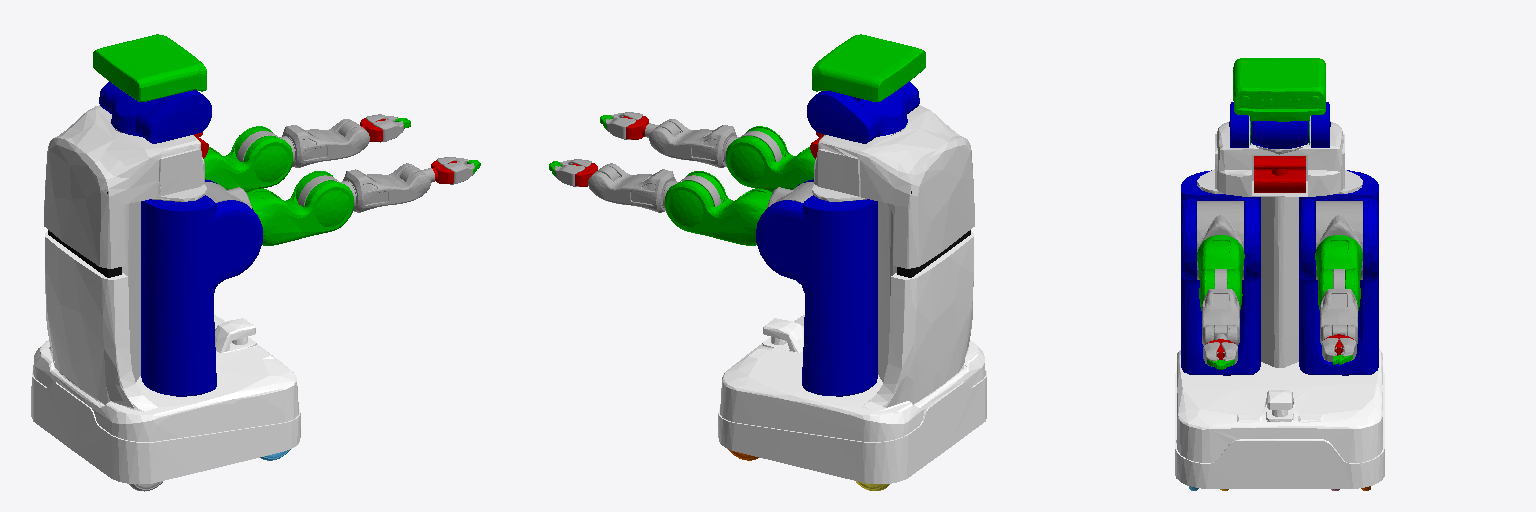
--- Render facts (derived) ---
The picture shows the robot from 3 angles, left to right: view 1: azimuth 30°, elevation 25°; view 2: azimuth 150°, elevation 25°; view 3: azimuth 270°, elevation 25°; orthographic projection.
Robot: pr2 — 97 links, 96 joints (21 revolute, 19 continuous, 5 prismatic, 51 fixed); root link base_footprint; default pose: all joints at 0.
Links seen in each view (by area): view 1: base_link, torso_lift_link, r_shoulder_pan_link, head_tilt_link, r_upper_arm_link, head_pan_link, l_upper_arm_link, l_forearm_link, r_forearm_link, r_shoulder_lift_link; view 2: base_link, torso_lift_link, l_shoulder_pan_link, head_tilt_link, l_upper_arm_link, head_pan_link, r_upper_arm_link, r_forearm_link, l_forearm_link, l_shoulder_lift_link; view 3: base_link, torso_lift_link, l_shoulder_pan_link, r_shoulder_pan_link, head_tilt_link, head_pan_link, r_upper_arm_link, l_upper_arm_link, laser_tilt_mount_link, r_shoulder_lift_link, l_shoulder_lift_link, r_forearm_link (+1 smaller).
Boxes of the visible links, x1,y1,x2,y2 form: base_link: (31,231,300,484); torso_lift_link: (44,105,206,381); r_shoulder_pan_link: (141,179,262,396); head_tilt_link: (93,34,206,101); r_upper_arm_link: (246,171,353,245); head_pan_link: (99,81,211,143); l_upper_arm_link: (204,126,292,191); l_forearm_link: (282,119,369,167); r_forearm_link: (343,163,430,212); r_shoulder_lift_link: (205,182,251,208); base_link: (718,231,986,483); torso_lift_link: (812,105,974,381); l_shoulder_pan_link: (756,179,877,396); head_tilt_link: (812,34,925,101); l_upper_arm_link: (665,171,771,245); head_pan_link: (807,81,919,143); r_upper_arm_link: (726,126,814,192); r_forearm_link: (649,119,736,167); l_forearm_link: (588,163,675,212); l_shoulder_lift_link: (767,182,813,207); base_link: (1175,349,1384,488); torso_lift_link: (1197,116,1362,367); l_shoulder_pan_link: (1299,170,1378,375); r_shoulder_pan_link: (1181,170,1260,375); head_tilt_link: (1233,58,1325,144); head_pan_link: (1229,102,1330,148); r_upper_arm_link: (1197,235,1244,310); l_upper_arm_link: (1315,235,1362,310); laser_tilt_mount_link: (1254,156,1305,192); r_shoulder_lift_link: (1197,201,1243,279); l_shoulder_lift_link: (1316,201,1362,279); r_forearm_link: (1202,289,1239,345).
Bounding box of the posed robot: 1.35 × 0.6668 × 1.47 m (x, y, z).
Meshes: 20 distinct files referenced, 35 mesh visuals loaded (15 Collada DAE); not drawn: 11 (reference not matched to a file when rendering).

robot.urdf — pr2:
<?xml version="1.0" ?>
<robot name="pr2" xmlns:body="http://playerstage.sourceforge.net/gazebo/xmlschema/#body" xmlns:controller="http://playerstage.sourceforge.net/gazebo/xmlschema/#controller" xmlns:geom="http://playerstage.sourceforge.net/gazebo/xmlschema/#geom" xmlns:interface="http://playerstage.sourceforge.net/gazebo/xmlschema/#interface" xmlns:joint="http://playerstage.sourceforge.net/gazebo/xmlschema/#joint" xmlns:sensor="http://playerstage.sourceforge.net/gazebo/xmlschema/#sensor" xmlns:xacro="http://ros.org/wiki/xacro">
  <gazebo>
    <controller:gazebo_ros_controller_manager name="gazebo_ros_controller_manager" plugin="libgazebo_ros_controller_manager.so">
      <alwaysOn>true</alwaysOn>
      <updateRate>1000.0</updateRate>
      <interface:audio name="gazebo_ros_controller_manager_dummy_iface"/>
    </controller:gazebo_ros_controller_manager>
    <controller:gazebo_ros_power_monitor name="gazebo_ros_power_monitor_controller" plugin="libgazebo_ros_power_monitor.so">
      <alwaysOn>true</alwaysOn>
      <updateRate>1.0</updateRate>
      <timeout>5</timeout>
      <interface:audio name="power_monitor_dummy_interface"/>
      <powerStateTopic>power_state</powerStateTopic>
      <powerStateRate>10.0</powerStateRate>
      <fullChargeCapacity>87.78</fullChargeCapacity>
      <dischargeRate>-474</dischargeRate>
      <chargeRate>525</chargeRate>
      <dischargeVoltage>15.52</dischargeVoltage>
      <chargeVoltage>16.41</chargeVoltage>
    </controller:gazebo_ros_power_monitor>
  </gazebo>
  <material name="Blue">
    <color rgba="0 0 0.8 1"/>
  </material>
  <material name="Green">
    <color rgba="0 0.8 0 1"/>
  </material>
  <material name="Grey">
    <color rgba="0.7 0.7 0.7 1"/>
  </material>
  <material name="Grey2">
    <color rgba="0.9 0.9 0.9 1"/>
  </material>
  <material name="Red">
    <color rgba="0.8 0 0 1"/>
  </material>
  <material name="White">
    <color rgba="1 1 1 1"/>
  </material>
  <material name="Black">
    <color rgba="0.1 0.1 0.1 1"/>
  </material>
  <material name="LightGrey">
    <color rgba="0.6 0.6 0.6 1"/>
  </material>
  <material name="Caster">
    <texture filename="package://pr2_description/materials/textures/pr2_caster_texture.png"/>
  </material>
  <material name="Wheel_l">
    <texture filename="package://pr2_description/materials/textures/pr2_wheel_left.png"/>
  </material>
  <material name="Wheel_r">
    <texture filename="package://pr2_description/materials/textures/pr2_wheel_right.png"/>
  </material>
  <material name="RollLinks">
    <texture filename="package://pr2_description/materials/textures/pr2_wheel_left.png"/>
  </material>
  <link name="base_link">
    <inertial>
      <mass value="116"/>
      <origin xyz="-0.061 0 0.1465"/>
      <inertia ixx="5.652232699207" ixy="-0.009719934438" ixz="1.293988226423" iyy="5.669473158652" iyz="-0.007379583694" izz="3.683196351726"/>
    </inertial>
    <visual>
      <origin rpy="0 0 0" xyz="0 0 0"/>
      <geometry>
        <mesh filename="package://pr2_description/meshes/base_v0/base.dae"/>
      </geometry>
      <material name="White"/>
    </visual>
    <collision>
      <origin rpy="0 0 0" xyz="0 0 0"/>
      <geometry>
        <mesh filename="package://pr2_description/meshes/base_v0/base_L.stl"/>
      </geometry>
    </collision>
  </link>
  <link name="base_footprint">
    <inertial>
      <mass value="1"/>
      <origin xyz="0 0 0"/>
      <inertia ixx="0.01" ixy="0" ixz="0" iyy="0.01" iyz="0" izz="0.01"/>
    </inertial>
    <visual>
      <origin rpy="0 0 0" xyz="0 0 0"/>
      <geometry>
        <box size="0.01 0.01 0.01"/>
      </geometry>
      <material name="White"/>
    </visual>
    <collision>
      <origin rpy="0 0 0" xyz="0 0 0.071"/>
      <geometry>
        <box size="0.001 0.001 0.001"/>
      </geometry>
    </collision>
  </link>
  <joint name="base_footprint_joint" type="fixed">
    <parent link="base_footprint"/>
    <child link="base_link"/>
    <origin rpy="0 0 0" xyz="0 0 0.051"/>
  </joint>
  <link name="base_bellow_link">
    <inertial>
      <mass value="1"/>
      <origin xyz="0 0 0"/>
      <inertia ixx="0.01" ixy="0" ixz="0" iyy="0.01" iyz="0" izz="0.01"/>
    </inertial>
    <visual>
      <origin rpy="0 0 0" xyz="0 0 0"/>
      <geometry>
        <box size="0.05 0.37 0.3"/>
      </geometry>
      <material name="Black"/>
    </visual>
    <collision>
      <origin rpy="0 0 0" xyz="0 0 0"/>
      <geometry>
        <box size="0.05 0.37 0.3"/>
      </geometry>
    </collision>
  </link>
  <joint name="base_bellow_joint" type="fixed">
    <parent link="base_link"/>
    <child link="base_bellow_link"/>
    <origin rpy="0 0 0" xyz="-0.29 0 0.8"/>
  </joint>
  <joint name="base_laser_joint" type="fixed">
    <parent link="base_link"/>
    <child link="base_laser_link"/>
    <origin rpy="0 0 0" xyz="0.275 0 0.252"/>
    <axis xyz="0 1 0"/>
  </joint>
  <link name="base_laser_link" type="laser">
    <inertial>
      <mass value="0.001"/>
      <origin rpy="0 0 0" xyz="0 0 0"/>
      <inertia ixx="0.0001" ixy="0" ixz="0" iyy="0.000001" iyz="0" izz="0.0001"/>
    </inertial>
  </link>
  <gazebo reference="base_laser_link">
    <sensor:ray name="base_laser">
      <rayCount>640</rayCount>
      <rangeCount>640</rangeCount>
      <laserCount>1</laserCount>
      <origin>0.0 0.0 0.0</origin>
      <displayRays>false</displayRays>
      <minAngle>-129.998394137</minAngle>
      <maxAngle>129.998394137</maxAngle>
      <minRange>0.08</minRange>
      <maxRange>10.0</maxRange>
      <resRange>0.01</resRange>
      <updateRate>20</updateRate>
      <controller:gazebo_ros_laser name="gazebo_ros_base_laser_controller" plugin="libgazebo_ros_laser.so">
        <gaussianNoise>0.005</gaussianNoise>
        <alwaysOn>true</alwaysOn>
        <updateRate>20</updateRate>
        <topicName>base_scan</topicName>
        <frameName>base_laser_link</frameName>
        <interface:laser name="gazebo_ros_base_laser_iface"/>
      </controller:gazebo_ros_laser>
    </sensor:ray>
  </gazebo>
  <joint name="fl_caster_rotation_joint" type="continuous">
    <parent link="base_link"/>
    <child link="fl_caster_rotation_link"/>
    <origin rpy="0 0 0" xyz="0.2246 0.2246 0.0282"/>
    <axis xyz="0 0 1"/>
    <limit effort="100" velocity="100"/>
    <dynamics damping="0.0" friction="0.0"/>
    <safety_controller k_velocity="10"/>
    <calibration rising="-0.785398163397"/>
  </joint>
  <link name="fl_caster_rotation_link">
    <inertial>
      <mass value="3.473082"/>
      <origin xyz="0 0 0.07"/>
      <inertia ixx="0.012411765597" ixy="-0.000711733678" ixz="0.00050272983" iyy="0.015218160428" iyz="-0.000004273467" izz="0.011763977943"/>
    </inertial>
    <visual>
      <origin rpy="0 0 0" xyz="0 0 0"/>
      <geometry>
        <mesh filename="package://pr2_description/meshes/base_v0/caster.stl"/>
      </geometry>
      <material name="Caster"/>
    </visual>
    <collision>
      <origin rpy="0 0 0" xyz="0 0 0"/>
      <geometry>
        <mesh filename="package://pr2_description/meshes/base_v0/caster_L.stl"/>
      </geometry>
    </collision>
  </link>
  <transmission name="fl_caster_rotation_trans" type="pr2_mechanism_model/SimpleTransmission">
    <actuator name="fl_caster_rotation_motor"/>
    <joint name="fl_caster_rotation_joint"/>
    <mechanicalReduction>-79.2380952381</mechanicalReduction>
  </transmission>
  <joint name="fl_caster_l_wheel_joint" type="continuous">
    <parent link="fl_caster_rotation_link"/>
    <child link="fl_caster_l_wheel_link"/>
    <origin rpy="0 0 0" xyz="0 0.049 0"/>
    <axis xyz="0 1 0"/>
    <limit effort="100" velocity="100"/>
    <dynamics damping="0.0" friction="0.0"/>
    <safety_controller k_velocity="10"/>
  </joint>
  <link name="fl_caster_l_wheel_link">
    <inertial>
      <mass value="0.44036"/>
      <origin xyz="0 0 0"/>
      <inertia ixx="0.012411765597" ixy="-0.000711733678" ixz="0.00050272983" iyy="0.015218160428" iyz="-0.000004273467" izz="0.011763977943"/>
    </inertial>
    <visual>
      <origin rpy="0 0 0" xyz="0 0 0"/>
      <geometry>
        <mesh filename="package://pr2_description/meshes/base_v0/wheel.dae"/>
      </geometry>
      <material name="Wheel_l"/>
    </visual>
    <collision>
      <origin rpy="1.57079632679 0 0" xyz="0 0 0"/>
      <geometry>
        <cylinder length="0.034" radius="0.074792"/>
      </geometry>
    </collision>
  </link>
  <gazebo reference="fl_caster_l_wheel_link">
    <mu1 value="100.0"/>
    <mu2 value="100.0"/>
    <kp value="1000000.0"/>
    <kd value="1.0"/>
  </gazebo>
  <transmission name="fl_caster_l_wheel_trans" type="pr2_mechanism_model/SimpleTransmission">
    <actuator name="fl_caster_l_wheel_motor"/>
    <joint name="fl_caster_l_wheel_joint"/>
    <mechanicalReduction>79.2380952381</mechanicalReduction>
  </transmission>
  <joint name="fl_caster_r_wheel_joint" type="continuous">
    <parent link="fl_caster_rotation_link"/>
    <child link="fl_caster_r_wheel_link"/>
    <origin rpy="0 0 0" xyz="0 -0.049 0"/>
    <axis xyz="0 1 0"/>
    <limit effort="100" velocity="100"/>
    <dynamics damping="0.0" friction="0.0"/>
    <safety_controller k_velocity="10"/>
  </joint>
  <link name="fl_caster_r_wheel_link">
    <inertial>
      <mass value="0.44036"/>
      <origin xyz="0 0 0"/>
      <inertia ixx="0.012411765597" ixy="-0.000711733678" ixz="0.00050272983" iyy="0.015218160428" iyz="-0.000004273467" izz="0.011763977943"/>
    </inertial>
    <visual>
      <origin rpy="0 0 0" xyz="0 0 0"/>
      <geometry>
        <mesh filename="package://pr2_description/meshes/base_v0/wheel.dae"/>
      </geometry>
      <material name="Wheel_r"/>
    </visual>
    <collision>
      <origin rpy="1.57079632679 0 0" xyz="0 0 0"/>
      <geometry>
        <cylinder length="0.034" radius="0.074792"/>
      </geometry>
    </collision>
  </link>
  <gazebo reference="fl_caster_r_wheel_link">
    <mu1 value="100.0"/>
    <mu2 value="100.0"/>
    <kp value="1000000.0"/>
    <kd value="1.0"/>
  </gazebo>
  <transmission name="fl_caster_r_wheel_trans" type="pr2_mechanism_model/SimpleTransmission">
    <actuator name="fl_caster_r_wheel_motor"/>
    <joint name="fl_caster_r_wheel_joint"/>
    <mechanicalReduction>-79.2380952381</mechanicalReduction>
  </transmission>
  <gazebo reference="fl_caster_rotation_link">
    <material value="PR2/caster_texture"/>
  </gazebo>
  <joint name="fr_caster_rotation_joint" type="continuous">
    <parent link="base_link"/>
    <child link="fr_caster_rotation_link"/>
    <origin rpy="0 0 0" xyz="0.2246 -0.2246 0.0282"/>
    <axis xyz="0 0 1"/>
    <limit effort="100" velocity="100"/>
    <dynamics damping="0.0" friction="0.0"/>
    <safety_controller k_velocity="10"/>
    <calibration rising="-0.785398163397"/>
  </joint>
  <link name="fr_caster_rotation_link">
    <inertial>
      <mass value="3.473082"/>
      <origin xyz="0 0 0.07"/>
      <inertia ixx="0.012411765597" ixy="-0.000711733678" ixz="0.00050272983" iyy="0.015218160428" iyz="-0.000004273467" izz="0.011763977943"/>
    </inertial>
    <visual>
      <origin rpy="0 0 0" xyz="0 0 0"/>
      <geometry>
        <mesh filename="package://pr2_description/meshes/base_v0/caster.stl"/>
      </geometry>
      <material name="Caster"/>
    </visual>
    <collision>
      <origin rpy="0 0 0" xyz="0 0 0"/>
      <geometry>
        <mesh filename="package://pr2_description/meshes/base_v0/caster_L.stl"/>
      </geometry>
    </collision>
  </link>
  <transmission name="fr_caster_rotation_trans" type="pr2_mechanism_model/SimpleTransmission">
    <actuator name="fr_caster_rotation_motor"/>
    <joint name="fr_caster_rotation_joint"/>
    <mechanicalReduction>-79.2380952381</mechanicalReduction>
  </transmission>
  <joint name="fr_caster_l_wheel_joint" type="continuous">
    <parent link="fr_caster_rotation_link"/>
    <child link="fr_caster_l_wheel_link"/>
    <origin rpy="0 0 0" xyz="0 0.049 0"/>
    <axis xyz="0 1 0"/>
    <limit effort="100" velocity="100"/>
    <dynamics damping="0.0" friction="0.0"/>
    <safety_controller k_velocity="10"/>
  </joint>
  <link name="fr_caster_l_wheel_link">
    <inertial>
      <mass value="0.44036"/>
      <origin xyz="0 0 0"/>
      <inertia ixx="0.012411765597" ixy="-0.000711733678" ixz="0.00050272983" iyy="0.015218160428" iyz="-0.000004273467" izz="0.011763977943"/>
    </inertial>
    <visual>
      <origin rpy="0 0 0" xyz="0 0 0"/>
      <geometry>
        <mesh filename="package://pr2_description/meshes/base_v0/wheel.dae"/>
      </geometry>
      <material name="Wheel_l"/>
    </visual>
    <collision>
      <origin rpy="1.57079632679 0 0" xyz="0 0 0"/>
      <geometry>
        <cylinder length="0.034" radius="0.074792"/>
      </geometry>
    </collision>
  </link>
  <gazebo reference="fr_caster_l_wheel_link">
    <mu1 value="100.0"/>
    <mu2 value="100.0"/>
    <kp value="1000000.0"/>
    <kd value="1.0"/>
  </gazebo>
  <transmission name="fr_caster_l_wheel_trans" type="pr2_mechanism_model/SimpleTransmission">
    <actuator name="fr_caster_l_wheel_motor"/>
    <joint name="fr_caster_l_wheel_joint"/>
    <mechanicalReduction>79.2380952381</mechanicalReduction>
  </transmission>
  <joint name="fr_caster_r_wheel_joint" type="continuous">
    <parent link="fr_caster_rotation_link"/>
    <child link="fr_caster_r_wheel_link"/>
    <origin rpy="0 0 0" xyz="0 -0.049 0"/>
    <axis xyz="0 1 0"/>
    <limit effort="100" velocity="100"/>
    <dynamics damping="0.0" friction="0.0"/>
    <safety_controller k_velocity="10"/>
  </joint>
  <link name="fr_caster_r_wheel_link">
    <inertial>
      <mass value="0.44036"/>
      <origin xyz="0 0 0"/>
      <inertia ixx="0.012411765597" ixy="-0.000711733678" ixz="0.00050272983" iyy="0.015218160428" iyz="-0.000004273467" izz="0.011763977943"/>
    </inertial>
    <visual>
      <origin rpy="0 0 0" xyz="0 0 0"/>
      <geometry>
        <mesh filename="package://pr2_description/meshes/base_v0/wheel.dae"/>
      </geometry>
      <material name="Wheel_r"/>
    </visual>
    <collision>
      <origin rpy="1.57079632679 0 0" xyz="0 0 0"/>
      <geometry>
        <cylinder length="0.034" radius="0.074792"/>
      </geometry>
    </collision>
  </link>
  <gazebo reference="fr_caster_r_wheel_link">
    <mu1 value="100.0"/>
    <mu2 value="100.0"/>
    <kp value="1000000.0"/>
    <kd value="1.0"/>
  </gazebo>
  <transmission name="fr_caster_r_wheel_trans" type="pr2_mechanism_model/SimpleTransmission">
    <actuator name="fr_caster_r_wheel_motor"/>
    <joint name="fr_caster_r_wheel_joint"/>
    <mechanicalReduction>-79.2380952381</mechanicalReduction>
  </transmission>
  <gazebo reference="fr_caster_rotation_link">
    <material value="PR2/caster_texture"/>
  </gazebo>
  <joint name="bl_caster_rotation_joint" type="continuous">
    <parent link="base_link"/>
    <child link="bl_caster_rotation_link"/>
    <origin rpy="0 0 0" xyz="-0.2246 0.2246 0.0282"/>
    <axis xyz="0 0 1"/>
    <limit effort="100" velocity="100"/>
    <dynamics damping="0.0" friction="0.0"/>
    <safety_controller k_velocity="10"/>
    <calibration rising="2.35619449019"/>
  </joint>
  <link name="bl_caster_rotation_link">
    <inertial>
      <mass value="3.473082"/>
      <origin xyz="0 0 0.07"/>
      <inertia ixx="0.012411765597" ixy="-0.000711733678" ixz="0.00050272983" iyy="0.015218160428" iyz="-0.000004273467" izz="0.011763977943"/>
    </inertial>
    <visual>
      <origin rpy="0 0 0" xyz="0 0 0"/>
      <geometry>
        <mesh filename="package://pr2_description/meshes/base_v0/caster.stl"/>
      </geometry>
      <material name="Caster"/>
    </visual>
    <collision>
      <origin rpy="0 0 0" xyz="0 0 0"/>
      <geometry>
        <mesh filename="package://pr2_description/meshes/base_v0/caster_L.stl"/>
      </geometry>
    </collision>
  </link>
  <transmission name="bl_caster_rotation_trans" type="pr2_mechanism_model/SimpleTransmission">
    <actuator name="bl_caster_rotation_motor"/>
    <joint name="bl_caster_rotation_joint"/>
    <mechanicalReduction>-79.2380952381</mechanicalReduction>
  </transmission>
  <joint name="bl_caster_l_wheel_joint" type="continuous">
    <parent link="bl_caster_rotation_link"/>
    <child link="bl_caster_l_wheel_link"/>
    <origin rpy="0 0 0" xyz="0 0.049 0"/>
    <axis xyz="0 1 0"/>
    <limit effort="100" velocity="100"/>
    <dynamics damping="0.0" friction="0.0"/>
    <safety_controller k_velocity="10"/>
  </joint>
  <link name="bl_caster_l_wheel_link">
    <inertial>
      <mass value="0.44036"/>
      <origin xyz="0 0 0"/>
      <inertia ixx="0.012411765597" ixy="-0.000711733678" ixz="0.00050272983" iyy="0.015218160428" iyz="-0.000004273467" izz="0.011763977943"/>
    </inertial>
    <visual>
      <origin rpy="0 0 0" xyz="0 0 0"/>
      <geometry>
        <mesh filename="package://pr2_description/meshes/base_v0/wheel.dae"/>
      </geometry>
      <material name="Wheel_l"/>
    </visual>
    <collision>
      <origin rpy="1.57079632679 0 0" xyz="0 0 0"/>
      <geometry>
        <cylinder length="0.034" radius="0.074792"/>
      </geometry>
    </collision>
  </link>
  <gazebo reference="bl_caster_l_wheel_link">
    <mu1 value="100.0"/>
    <mu2 value="100.0"/>
    <kp value="1000000.0"/>
    <kd value="1.0"/>
  </gazebo>
  <transmission name="bl_caster_l_wheel_trans" type="pr2_mechanism_model/SimpleTransmission">
    <actuator name="bl_caster_l_wheel_motor"/>
    <joint name="bl_caster_l_wheel_joint"/>
    <mechanicalReduction>79.2380952381</mechanicalReduction>
  </transmission>
  <joint name="bl_caster_r_wheel_joint" type="continuous">
    <parent link="bl_caster_rotation_link"/>
    <child link="bl_caster_r_wheel_link"/>
    <origin rpy="0 0 0" xyz="0 -0.049 0"/>
    <axis xyz="0 1 0"/>
    <limit effort="100" velocity="100"/>
    <dynamics damping="0.0" friction="0.0"/>
    <safety_controller k_velocity="10"/>
  </joint>
  <link name="bl_caster_r_wheel_link">
    <inertial>
      <mass value="0.44036"/>
      <origin xyz="0 0 0"/>
      <inertia ixx="0.012411765597" ixy="-0.000711733678" ixz="0.00050272983" iyy="0.015218160428" iyz="-0.000004273467" izz="0.011763977943"/>
    </inertial>
    <visual>
      <origin rpy="0 0 0" xyz="0 0 0"/>
      <geometry>
        <mesh filename="package://pr2_description/meshes/base_v0/wheel.dae"/>
      </geometry>
      <material name="Wheel_r"/>
    </visual>
    <collision>
      <origin rpy="1.57079632679 0 0" xyz="0 0 0"/>
      <geometry>
        <cylinder length="0.034" radius="0.074792"/>
      </geometry>
    </collision>
  </link>
  <gazebo reference="bl_caster_r_wheel_link">
    <mu1 value="100.0"/>
    <mu2 value="100.0"/>
    <kp value="1000000.0"/>
    <kd value="1.0"/>
  </gazebo>
  <transmission name="bl_caster_r_wheel_trans" type="pr2_mechanism_model/SimpleTransmission">
    <actuator name="bl_caster_r_wheel_motor"/>
    <joint name="bl_caster_r_wheel_joint"/>
    <mechanicalReduction>-79.2380952381</mechanicalReduction>
  </transmission>
  <gazebo reference="bl_caster_rotation_link">
    <material value="PR2/caster_texture"/>
  </gazebo>
  <joint name="br_caster_rotation_joint" type="continuous">
    <parent link="base_link"/>
    <child link="br_caster_rotation_link"/>
    <origin rpy="0 0 0" xyz="-0.2246 -0.2246 0.0282"/>
    <axis xyz="0 0 1"/>
    <limit effort="100" velocity="100"/>
    <dynamics damping="0.0" friction="0.0"/>
    <safety_controller k_velocity="10"/>
    <calibration rising="2.35619449019"/>
  </joint>
  <link name="br_caster_rotation_link">
    <inertial>
      <mass value="3.473082"/>
      <origin xyz="0 0 0.07"/>
      <inertia ixx="0.012411765597" ixy="-0.000711733678" ixz="0.00050272983" iyy="0.015218160428" iyz="-0.000004273467" izz="0.011763977943"/>
    </inertial>
    <visual>
      <origin rpy="0 0 0" xyz="0 0 0"/>
      <geometry>
        <mesh filename="package://pr2_description/meshes/base_v0/caster.stl"/>
      </geometry>
      <material name="Caster"/>
    </visual>
    <collision>
      <origin rpy="0 0 0" xyz="0 0 0"/>
      <geometry>
        <mesh filename="package://pr2_description/meshes/base_v0/caster_L.stl"/>
      </geometry>
    </collision>
  </link>
  <transmission name="br_caster_rotation_trans" type="pr2_mechanism_model/SimpleTransmission">
    <actuator name="br_caster_rotation_motor"/>
    <joint name="br_caster_rotation_joint"/>
    <mechanicalReduction>-79.2380952381</mechanicalReduction>
  </transmission>
  <joint name="br_caster_l_wheel_joint" type="continuous">
    <parent link="br_caster_rotation_link"/>
    <child link="br_caster_l_wheel_link"/>
    <origin rpy="0 0 0" xyz="0 0.049 0"/>
    <axis xyz="0 1 0"/>
    <limit effort="100" velocity="100"/>
    <dynamics damping="0.0" friction="0.0"/>
    <safety_controller k_velocity="10"/>
  </joint>
  <link name="br_caster_l_wheel_link">
    <inertial>
      <mass value="0.44036"/>
      <origin xyz="0 0 0"/>
      <inertia ixx="0.012411765597" ixy="-0.000711733678" ixz="0.00050272983" iyy="0.015218160428" iyz="-0.000004273467" izz="0.011763977943"/>
    </inertial>
    <visual>
      <origin rpy="0 0 0" xyz="0 0 0"/>
      <geometry>
        <mesh filename="package://pr2_description/meshes/base_v0/wheel.dae"/>
      </geometry>
      <material name="Wheel_l"/>
    </visual>
    <collision>
      <origin rpy="1.57079632679 0 0" xyz="0 0 0"/>
      <geometry>
        <cylinder length="0.034" radius="0.074792"/>
      </geometry>
    </collision>
  </link>
  <gazebo reference="br_caster_l_wheel_link">
    <mu1 value="100.0"/>
    <mu2 value="100.0"/>
    <kp value="1000000.0"/>
    <kd value="1.0"/>
  </gazebo>
  <transmission name="br_caster_l_wheel_trans" type="pr2_mechanism_model/SimpleTransmission">
    <actuator name="br_caster_l_wheel_motor"/>
    <joint name="br_caster_l_wheel_joint"/>
    <mechanicalReduction>79.2380952381</mechanicalReduction>
  </transmission>
  <joint name="br_caster_r_wheel_joint" type="continuous">
    <parent link="br_caster_rotation_link"/>
    <child link="br_caster_r_wheel_link"/>
    <origin rpy="0 0 0" xyz="0 -0.049 0"/>
    <axis xyz="0 1 0"/>
    <limit effort="100" velocity="100"/>
    <dynamics damping="0.0" friction="0.0"/>
    <safety_controller k_velocity="10"/>
  </joint>
  <link name="br_caster_r_wheel_link">
    <inertial>
      <mass value="0.44036"/>
      <origin xyz="0 0 0"/>
      <inertia ixx="0.012411765597" ixy="-0.000711733678" ixz="0.00050272983" iyy="0.015218160428" iyz="-0.000004273467" izz="0.011763977943"/>
    </inertial>
    <visual>
      <origin rpy="0 0 0" xyz="0 0 0"/>
      <geometry>
        <mesh filename="package://pr2_description/meshes/base_v0/wheel.dae"/>
      </geometry>
      <material name="Wheel_r"/>
    </visual>
    <collision>
      <origin rpy="1.57079632679 0 0" xyz="0 0 0"/>
      <geometry>
        <cylinder length="0.034" radius="0.074792"/>
      </geometry>
    </collision>
  </link>
  <gazebo reference="br_caster_r_wheel_link">
    <mu1 value="100.0"/>
    <mu2 value="100.0"/>
    <kp value="1000000.0"/>
    <kd value="1.0"/>
  </gazebo>
  <transmission name="br_caster_r_wheel_trans" type="pr2_mechanism_model/SimpleTransmission">
    <actuator name="br_caster_r_wheel_motor"/>
    <joint name="br_caster_r_wheel_joint"/>
    <mechanicalReduction>-79.2380952381</mechanicalReduction>
  </transmission>
  <gazebo reference="br_caster_rotation_link">
    <material value="PR2/caster_texture"/>
  </gazebo>
  <gazebo reference="base_link">
    <selfCollide>false</selfCollide>
    <sensor:contact name="base_contact_sensor">
      <geom>base_link_geom</geom>
      <updateRate>100.0</updateRate>
      <controller:gazebo_ros_bumper name="base_gazebo_ros_bumper_controller" plugin="libgazebo_ros_bumper.so">
        <alwaysOn>true</alwaysOn>
        <updateRate>100.0</updateRate>
        <bumperTopicName>base_bumper</bumperTopicName>
        <interface:bumper name="base_bumper_iface"/>
      </controller:gazebo_ros_bumper>
    </sensor:contact>
  </gazebo>
  <gazebo reference="base_bellow_link">
    <material value="PR2/Black"/>
  </gazebo>
  <gazebo>
    <controller:gazebo_ros_p3d name="p3d_base_controller" plugin="libgazebo_ros_p3d.so">
      <alwaysOn>true</alwaysOn>
      <updateRate>100.0</updateRate>
      <bodyName/>
      <topicName>base_pose_ground_truth</topicName>
      <gaussianNoise>0.01</gaussianNoise>
      <frameName>map</frameName>
      <xyzOffsets>0 0 0</xyzOffsets>
      <rpyOffsets>0 0 0</rpyOffsets>
      <interface:position name="p3d_base_position"/>
    </controller:gazebo_ros_p3d>
    <canonicalBody>base_footprint</canonicalBody>
  </gazebo>
  <joint name="torso_lift_joint" type="prismatic">
    <parent link="base_link"/>
    <child link="torso_lift_link"/>
    <origin rpy="0 0 0" xyz="-0.05 0 0.739675"/>
    <axis xyz="0 0 1"/>
    <limit effort="10000" lower="0" upper="0.33" velocity="0.013"/>
    <dynamics damping="20000.0"/>
    <safety_controller k_position="100" k_velocity="2000000" soft_lower_limit="0.0115" soft_upper_limit="0.325"/>
    <calibration falling="0.00475"/>
  </joint>
  <link name="torso_lift_link">
    <inertial>
      <mass value="36.248046"/>
      <origin xyz="-0.1 0 -0.0885"/>
      <inertia ixx="2.771653750257" ixy="0.004284522609" ixz="-0.160418504506" iyy="2.510019507959" iyz="0.029664468704" izz="0.526432355569"/>
    </inertial>
    <visual>
      <origin rpy="0 0 0" xyz="0 0 0"/>
      <geometry>
        <mesh filename="package://pr2_description/meshes/torso_v0/torso_lift.dae"/>
      </geometry>
      <material name="Grey2"/>
    </visual>
    <collision>
      <origin rpy="0 0 0" xyz="0 0 0"/>
      <geometry>
        <mesh filename="package://pr2_description/meshes/torso_v0/torso_lift_L.stl"/>
      </geometry>
    </collision>
  </link>
  <joint name="l_torso_lift_side_plate_joint" type="fixed">
    <parent link="torso_lift_link"/>
    <child link="l_torso_lift_side_plate_link"/>
    <origin rpy="0 0 0" xyz="0.0535 0.209285 0.176625"/>
  </joint>
  <link name="l_torso_lift_side_plate_link">
    <inertial>
      <mass value="0.1"/>
      <origin xyz="-0.0625 0 0.05"/>
      <inertia ixx="0.001" ixy="0" ixz="0" iyy="0.001" iyz="0" izz="0.001"/>
    </inertial>
  </link>
  <joint name="r_torso_lift_side_plate_joint" type="fixed">
    <parent link="torso_lift_link"/>
    <child link="r_torso_lift_side_plate_link"/>
    <origin rpy="0 0 0" xyz="0.0535 -0.209285 0.176625"/>
  </joint>
  <link name="r_torso_lift_side_plate_link">
    <inertial>
      <mass value="0.1"/>
      <origin xyz="-0.0625 0 0.05"/>
      <inertia ixx="0.001" ixy="0" ixz="0" iyy="0.001" iyz="0" izz="0.001"/>
    </inertial>
  </link>
  <link name="torso_lift_motor_screw_link">
    <inertial>
      <mass value="1"/>
      <origin rpy="0 0 0" xyz="0 0 0"/>
      <inertia ixx="0.001" ixy="0" ixz="0" iyy="0.001" iyz="0" izz="0.001"/>
    </inertial>
  </link>
  <joint name="torso_lift_motor_screw_joint" type="continuous">
    <parent link="base_link"/>
    <child link="torso_lift_motor_screw_link"/>
    <origin rpy="0 0 0" xyz="-0.15 0 0.7"/>
    <axis xyz="0 0 1"/>
    <dynamics damping="0.0001"/>
  </joint>
  <gazebo reference="torso_lift_link">
    <sensor:contact name="torso_lift_contact_sensor">
      <geom>torso_lift_link_geom</geom>
      <updateRate>100.0</updateRate>
      <controller:gazebo_ros_bumper name="torso_lift_gazebo_ros_bumper_controller" plugin="libgazebo_ros_bumper.so">
        <alwaysOn>true</alwaysOn>
        <updateRate>100.0</updateRate>
        <bumperTopicName>torso_lift_bumper</bumperTopicName>
        <interface:bumper name="torso_lift_gazebo_ros_bumper_iface"/>
      </controller:gazebo_ros_bumper>
    </sensor:contact>
  </gazebo>
  <gazebo>
    <joint:screw name="torso_lift_screw_torso_lift_joint">
      <body1/>
      <body2/>
      <anchor>torso_lift_motor_screw_link</anchor>
      <anchorOffset>0 0 0</anchorOffset>
      <axis>0 0 1</axis>
      <threadPitch>3141.6</threadPitch>
    </joint:screw>
  </gazebo>
  <transmission name="torso_lift_trans" type="pr2_mechanism_model/SimpleTransmission">
    <actuator name="torso_lift_motor"/>
    <joint name="torso_lift_joint"/>
    <mechanicalReduction>-47641.529999999999</mechanicalReduction>
    <simulated_actuated_joint name="torso_lift_motor_screw_joint" simulated_reduction="3141.6"/>
  </transmission>
  <joint name="imu_joint" type="fixed">
    <parent link="torso_lift_link"/>
    <child link="imu_link"/>
    <origin rpy="0 3.14159265359 0" xyz="-0.02977 -0.1497 0.164"/>
    <axis xyz="0 1 0"/>
  </joint>
  <link name="imu_link">
    <inertial>
      <mass value="0.001"/>
      <origin rpy="0 0 0" xyz="0 0 0"/>
      <inertia ixx="0.0001" ixy="0" ixz="0" iyy="0.000001" iyz="0" izz="0.0001"/>
    </inertial>
  </link>
  <gazebo>
    <controller:gazebo_ros_imu name="imu_controller" plugin="libgazebo_ros_imu.so">
      <alwaysOn>true</alwaysOn>
      <updateRate>100.0</updateRate>
      <bodyName/>
      <topicName>torso_lift_imu/data</topicName>
      <gaussianNoise>2.89e-08</gaussianNoise>
      <xyzOffsets>0 0 0</xyzOffsets>
      <rpyOffsets>0 0 0</rpyOffsets>
      <interface:position name="imu_position"/>
    </controller:gazebo_ros_imu>
  </gazebo>
  <joint name="head_pan_joint" type="revolute">
    <parent link="torso_lift_link"/>
    <child link="head_pan_link"/>
    <origin rpy="0 0 0" xyz="-0.01707 0 0.38145"/>
    <axis xyz="0 0 1"/>
    <limit effort="2.645" lower="-3.007" upper="3.007" velocity="6"/>
    <dynamics damping="0.5"/>
    <safety_controller k_position="100" k_velocity="1.5" soft_lower_limit="-2.857" soft_upper_limit="2.857"/>
    <calibration rising="-0.008252844573"/>
  </joint>
  <link name="head_pan_link">
    <inertial>
      <mass value="6.339"/>
      <origin rpy="0 0 0" xyz="0.010907 0.031693 0.090507"/>
      <inertia ixx="0.032497592" ixy="0.00063604088" ixz="0.0025851534" iyy="0.046545627" iyz="-0.0024534295" izz="0.057652724"/>
    </inertial>
    <visual>
      <origin rpy="0 0 0" xyz="0 0 0"/>
      <geometry>
        <mesh filename="package://pr2_description/meshes/head_v0/head_pan.dae"/>
      </geometry>
      <material name="Blue"/>
    </visual>
    <collision>
      <geometry>
        <mesh filename="package://pr2_description/meshes/head_v0/head_pan_L.stl"/>
      </geometry>
    </collision>
  </link>
  <transmission name="head_pan_trans" type="pr2_mechanism_model/SimpleTransmission">
    <actuator name="head_pan_motor"/>
    <joint name="head_pan_joint"/>
    <mechanicalReduction>6</mechanicalReduction>
  </transmission>
  <joint name="head_tilt_joint" type="revolute">
    <parent link="head_pan_link"/>
    <child link="head_tilt_link"/>
    <origin rpy="0 0 0" xyz="0.068 0 0"/>
    <axis xyz="0 1 0"/>
    <limit effort="18" lower="-0.471238" upper="1.39626" velocity="5"/>
    <dynamics damping="10.0"/>
    <safety_controller k_position="100" k_velocity="3" soft_lower_limit="-0.3712" soft_upper_limit="1.29626"/>
    <calibration falling="0"/>
  </joint>
  <link name="head_tilt_link">
    <inertial>
      <mass value="4.479"/>
      <origin rpy="0 0 0" xyz="0.001716 -0.019556 0.055002"/>
      <inertia ixx="0.024223222" ixy="0.00062063507" ixz="-0.000096909696" iyy="0.054723086" iyz="0.002797024" izz="0.067306377"/>
    </inertial>
    <visual>
      <origin rpy="0 0 0" xyz="0 0 0"/>
      <geometry>
        <mesh filename="package://pr2_description/meshes/head_v0/head_tilt.dae"/>
      </geometry>
      <material name="Green"/>
    </visual>
    <collision>
      <origin rpy="0 0 0" xyz="0 0 0"/>
      <geometry>
        <mesh filename="package://pr2_description/meshes/head_v0/head_tilt_L.stl"/>
      </geometry>
    </collision>
  </link>
  <transmission name="head_tilt_trans" type="pr2_mechanism_model/SimpleTransmission">
    <actuator name="head_tilt_motor"/>
    <joint name="head_tilt_joint"/>
    <mechanicalReduction>6</mechanicalReduction>
  </transmission>
  <joint name="head_plate_frame_joint" type="fixed">
    <parent link="head_tilt_link"/>
    <child link="head_plate_frame"/>
    <origin rpy="0 0 0" xyz="0.0232 0 0.0645"/>
  </joint>
  <link name="head_plate_frame">
    <inertial>
      <mass value="0.01"/>
      <origin rpy="0 0 0" xyz="0 0 0"/>
      <inertia ixx="0.001" ixy="0" ixz="0" iyy="0.001" iyz="0" izz="0.001"/>
    </inertial>
    <visual>
      <origin rpy="0 0 0" xyz="0 0 0"/>
      <geometry>
        <box size="0.01 0.01 0.01"/>
      </geometry>
      <material name="Blue"/>
    </visual>
    <collision>
      <origin rpy="0 0 0" xyz="0 0 0"/>
      <geometry>
        <box size="0.01 0.01 0.01"/>
      </geometry>
    </collision>
  </link>
  <gazebo reference="head_plate_frame">
    <material value="Gazebo/Grey"/>
  </gazebo>
  <joint name="sensor_mount_frame_joint" type="fixed">
    <parent link="head_plate_frame"/>
    <child link="sensor_mount_link"/>
    <origin rpy="0 0 0" xyz="0 0 0"/>
  </joint>
  <link name="sensor_mount_link">
    <inertial>
      <mass value="0.05"/>
      <origin rpy="0 0 0" xyz="0 0 0"/>
      <inertia ixx="0.001" ixy="0" ixz="0" iyy="0.001" iyz="0" izz="0.01"/>
    </inertial>
    <visual>
      <origin rpy="0 0 0" xyz="0 0 0"/>
      <geometry>
        <box size="0.01 0.01 0.01"/>
      </geometry>
      <material name="Blue"/>
    </visual>
  </link>
  <joint name="high_def_frame_joint" type="fixed">
    <parent link="sensor_mount_link"/>
    <child link="high_def_frame"/>
    <origin rpy="0.003950230149 0.009640277817 0.004751077372" xyz="0.067494638794 -0.105978808008 0.065286584089"/>
  </joint>
  <link name="high_def_frame">
    <inertial>
      <mass value="0.01"/>
      <origin rpy="0 0 0" xyz="0 0 0"/>
      <inertia ixx="0.001" ixy="0" ixz="0" iyy="0.001" iyz="0" izz="0.001"/>
    </inertial>
  </link>
  <joint name="high_def_optical_frame_joint" type="fixed">
    <parent link="high_def_frame"/>
    <child link="high_def_optical_frame"/>
    <origin rpy="-1.57079632679 0 -1.57079632679" xyz="0 0 0"/>
  </joint>
  <link name="high_def_optical_frame">
    <inertial>
      <mass value="0.01"/>
      <origin rpy="0 0 0" xyz="0 0 0"/>
      <inertia ixx="0.001" ixy="0" ixz="0" iyy="0.001" iyz="0" izz="0.001"/>
    </inertial>
  </link>
  <gazebo reference="high_def_frame">
    <sensor:camera name="high_def_sensor">
      <imageFormat>R8G8B8</imageFormat>
      <imageSize>2448 2050</imageSize>
      <hfov>45</hfov>
      <nearClip>0.1</nearClip>
      <farClip>100</farClip>
      <updateRate>20.0</updateRate>
      <controller:gazebo_ros_prosilica name="high_def_controller" plugin="libgazebo_ros_prosilica.so">
        <alwaysOn>true</alwaysOn>
        <updateRate>20.0</updateRate>
        <cameraName>prosilica</cameraName>
        <imageTopicName>image_raw</imageTopicName>
        <cameraInfoTopicName>camera_info</cameraInfoTopicName>
        <pollServiceName>request_image</pollServiceName>
        <frameName>high_def_optical_frame</frameName>
        <CxPrime>1224.5</CxPrime>
        <Cx>1224.5</Cx>
        <Cy>1025.5</Cy>
        <focalLength>2955</focalLength>
        <distortionK1>0.0</distortionK1>
        <distortionK2>0.0</distortionK2>
        <distortionK3>0.0</distortionK3>
        <distortionT1>0.0</distortionT1>
        <distortionT2>0.0</distortionT2>
      </controller:gazebo_ros_prosilica>
    </sensor:camera>
    <material value="Gazebo/Black"/>
  </gazebo>
  <joint name="double_stereo_frame_joint" type="fixed">
    <parent link="sensor_mount_link"/>
    <child link="double_stereo_link"/>
    <origin rpy="0 0 0" xyz="0 0 0"/>
  </joint>
  <link name="double_stereo_link">
    <inertial>
      <mass value="0.1"/>
      <origin rpy="0 0 0" xyz="0 0 0"/>
      <inertia ixx="0.001" ixy="0" ixz="0" iyy="0.001" iyz="0" izz="0.01"/>
    </inertial>
    <visual>
      <origin rpy="0 0 0" xyz="-0.01 0 0.025"/>
      <geometry>
        <box size="0.02 0.12 0.05"/>
      </geometry>
      <material name="Blue"/>
    </visual>
  </link>
  <joint name="wide_stereo_frame_joint" type="fixed">
    <parent link="double_stereo_link"/>
    <child link="wide_stereo_link"/>
    <origin rpy="-0.008126433032 0.019046003283 -0.02103398718" xyz="0.049441200823 0.029621964434 0.05947904502"/>
  </joint>
  <link name="wide_stereo_link">
    <inertial>
      <mass value="0.1"/>
      <origin rpy="0 0 0" xyz="0 0 0"/>
      <inertia ixx="0.01" ixy="0" ixz="0" iyy="0.01" iyz="0" izz="0.01"/>
    </inertial>
  </link>
  <joint name="wide_stereo_optical_frame_joint" type="fixed">
    <parent link="wide_stereo_link"/>
    <child link="wide_stereo_optical_frame"/>
    <origin rpy="-1.57079632679 0 -1.57079632679" xyz="0 0 0"/>
  </joint>
  <link name="wide_stereo_optical_frame" type="camera"/>
  <joint name="wide_stereo_gazebo_l_stereo_camera_frame_joint" type="fixed">
    <parent link="wide_stereo_link"/>
    <child link="wide_stereo_gazebo_l_stereo_camera_frame"/>
    <origin rpy="0 0 0" xyz="0 0 0"/>
  </joint>
  <link name="wide_stereo_gazebo_l_stereo_camera_frame">
    <inertial>
      <mass value="0.01"/>
      <origin xyz="0 0 0"/>
      <inertia ixx="0.001" ixy="0" ixz="0" iyy="0.001" iyz="0" izz="0.001"/>
    </inertial>
  </link>
  <joint name="wide_stereo_gazebo_l_stereo_camera_optical_frame_joint" type="fixed">
    <parent link="wide_stereo_gazebo_l_stereo_camera_frame"/>
    <child link="wide_stereo_gazebo_l_stereo_camera_optical_frame"/>
    <origin rpy="-1.57079632679 0 -1.57079632679" xyz="0 0 0"/>
  </joint>
  <link name="wide_stereo_gazebo_l_stereo_camera_optical_frame"/>
  <gazebo reference="wide_stereo_gazebo_l_stereo_camera_frame">
    <sensor:camera name="wide_stereo_gazebo_l_stereo_camera_sensor">
      <imageSize>640 480</imageSize>
      <imageFormat>BAYER_BGGR8</imageFormat>
      <hfov>90</hfov>
      <nearClip>0.1</nearClip>
      <farClip>100</farClip>
      <updateRate>25.0</updateRate>
      <controller:gazebo_ros_depth_camera name="wide_stereo_gazebo_l_stereo_camera_controller" plugin="libgazebo_ros_depth_camera.so">
        <alwaysOn>true</alwaysOn>
        <updateRate>25.0</updateRate>
        <cameraName>wide_stereo/left</cameraName>
        <imageTopicName>image_raw</imageTopicName>
        <cameraInfoTopicName>camera_info</cameraInfoTopicName>
        <frameName>wide_stereo_optical_frame</frameName>
        <hackBaseline>0</hackBaseline>
        <CxPrime>320.5</CxPrime>
        <Cx>320.5</Cx>
        <Cy>240.5</Cy>
        <focalLength>320</focalLength>
        <distortionK1>0.0</distortionK1>
        <distortionK2>0.0</distortionK2>
        <distortionK3>0.0</distortionK3>
        <distortionT1>0.0</distortionT1>
        <distortionT2>0.0</distortionT2>
        <interface:camera name="wide_stereo_gazebo_l_stereo_camera_iface"/>
      </controller:gazebo_ros_depth_camera>
    </sensor:camera>
    <turnGravityOff>true</turnGravityOff>
    <material>PR2/Blue</material>
  </gazebo>
  <joint name="wide_stereo_gazebo_r_stereo_camera_frame_joint" type="fixed">
    <parent link="wide_stereo_gazebo_l_stereo_camera_frame"/>
    <child link="wide_stereo_gazebo_r_stereo_camera_frame"/>
    <origin rpy="0 0 0" xyz="0 -0.09 0"/>
  </joint>
  <link name="wide_stereo_gazebo_r_stereo_camera_frame">
    <inertial>
      <mass value="0.01"/>
      <origin xyz="0 0 0"/>
      <inertia ixx="0.001" ixy="0" ixz="0" iyy="0.001" iyz="0" izz="0.001"/>
    </inertial>
  </link>
  <joint name="wide_stereo_gazebo_r_stereo_camera_optical_frame_joint" type="fixed">
    <parent link="wide_stereo_gazebo_r_stereo_camera_frame"/>
    <child link="wide_stereo_gazebo_r_stereo_camera_optical_frame"/>
    <origin rpy="-1.57079632679 0 -1.57079632679" xyz="0 0 0"/>
  </joint>
  <link name="wide_stereo_gazebo_r_stereo_camera_optical_frame"/>
  <gazebo reference="wide_stereo_gazebo_r_stereo_camera_frame">
    <sensor:camera name="wide_stereo_gazebo_r_stereo_camera_sensor">
      <imageSize>640 480</imageSize>
      <imageFormat>BAYER_BGGR8</imageFormat>
      <hfov>90</hfov>
      <nearClip>0.1</nearClip>
      <farClip>100</farClip>
      <updateRate>25.0</updateRate>
      <controller:gazebo_ros_depth_camera name="wide_stereo_gazebo_r_stereo_camera_controller" plugin="libgazebo_ros_depth_camera.so">
        <alwaysOn>true</alwaysOn>
        <updateRate>25.0</updateRate>
        <cameraName>wide_stereo/right</cameraName>
        <imageTopicName>image_raw</imageTopicName>
        <cameraInfoTopicName>camera_info</cameraInfoTopicName>
        <frameName>wide_stereo_optical_frame</frameName>
        <hackBaseline>0.09</hackBaseline>
        <CxPrime>320.5</CxPrime>
        <Cx>320.5</Cx>
        <Cy>240.5</Cy>
        <focalLength>320</focalLength>
        <distortionK1>0.0</distortionK1>
        <distortionK2>0.0</distortionK2>
        <distortionK3>0.0</distortionK3>
        <distortionT1>0.0</distortionT1>
        <distortionT2>0.0</distortionT2>
        <interface:camera name="wide_stereo_gazebo_r_stereo_camera_iface"/>
      </controller:gazebo_ros_depth_camera>
    </sensor:camera>
    <turnGravityOff>true</turnGravityOff>
    <material>PR2/Blue</material>
  </gazebo>
  <gazebo reference="wide_stereo_link">
    <material value="PR2/Blue"/>
    <turnGravityOff value="true"/>
  </gazebo>
  <gazebo reference="wide_stereo_optical_frame">
    <material value="Gazebo/White"/>
    <turnGravityOff value="true"/>
  </gazebo>
  <joint name="narrow_stereo_frame_joint" type="fixed">
    <parent link="double_stereo_link"/>
    <child link="narrow_stereo_link"/>
    <origin rpy="-0.008253203121 0.006334171924 0.01501917267" xyz="0.050692066301 0.059443706736 0.059877919653"/>
  </joint>
  <link name="narrow_stereo_link">
    <inertial>
      <mass value="0.1"/>
      <origin rpy="0 0 0" xyz="0 0 0"/>
      <inertia ixx="0.01" ixy="0" ixz="0" iyy="0.01" iyz="0" izz="0.01"/>
    </inertial>
  </link>
  <joint name="narrow_stereo_optical_frame_joint" type="fixed">
    <parent link="narrow_stereo_link"/>
    <child link="narrow_stereo_optical_frame"/>
    <origin rpy="-1.57079632679 0 -1.57079632679" xyz="0 0 0"/>
  </joint>
  <link name="narrow_stereo_optical_frame" type="camera"/>
  <joint name="narrow_stereo_gazebo_l_stereo_camera_frame_joint" type="fixed">
    <parent link="narrow_stereo_link"/>
    <child link="narrow_stereo_gazebo_l_stereo_camera_frame"/>
    <origin rpy="0 0 0" xyz="0 0 0"/>
  </joint>
  <link name="narrow_stereo_gazebo_l_stereo_camera_frame">
    <inertial>
      <mass value="0.01"/>
      <origin xyz="0 0 0"/>
      <inertia ixx="0.001" ixy="0" ixz="0" iyy="0.001" iyz="0" izz="0.001"/>
    </inertial>
  </link>
  <joint name="narrow_stereo_gazebo_l_stereo_camera_optical_frame_joint" type="fixed">
    <parent link="narrow_stereo_gazebo_l_stereo_camera_frame"/>
    <child link="narrow_stereo_gazebo_l_stereo_camera_optical_frame"/>
    <origin rpy="-1.57079632679 0 -1.57079632679" xyz="0 0 0"/>
  </joint>
  <link name="narrow_stereo_gazebo_l_stereo_camera_optical_frame"/>
  <gazebo reference="narrow_stereo_gazebo_l_stereo_camera_frame">
    <sensor:camera name="narrow_stereo_gazebo_l_stereo_camera_sensor">
      <imageSize>640 480</imageSize>
      <imageFormat>L8</imageFormat>
      <hfov>45</hfov>
      <nearClip>0.1</nearClip>
      <farClip>100</farClip>
      <updateRate>25.0</updateRate>
      <controller:gazebo_ros_depth_camera name="narrow_stereo_gazebo_l_stereo_camera_controller" plugin="libgazebo_ros_depth_camera.so">
        <alwaysOn>true</alwaysOn>
        <updateRate>25.0</updateRate>
        <cameraName>narrow_stereo/left</cameraName>
        <imageTopicName>image_raw</imageTopicName>
        <cameraInfoTopicName>camera_info</cameraInfoTopicName>
        <frameName>narrow_stereo_optical_frame</frameName>
        <hackBaseline>0</hackBaseline>
        <CxPrime>320.5</CxPrime>
        <Cx>320.5</Cx>
        <Cy>240.5</Cy>
        <focalLength>772.55</focalLength>
        <distortionK1>0.0</distortionK1>
        <distortionK2>0.0</distortionK2>
        <distortionK3>0.0</distortionK3>
        <distortionT1>0.0</distortionT1>
        <distortionT2>0.0</distortionT2>
        <interface:camera name="narrow_stereo_gazebo_l_stereo_camera_iface"/>
      </controller:gazebo_ros_depth_camera>
    </sensor:camera>
    <turnGravityOff>true</turnGravityOff>
    <material>PR2/Blue</material>
  </gazebo>
  <joint name="narrow_stereo_gazebo_r_stereo_camera_frame_joint" type="fixed">
    <parent link="narrow_stereo_gazebo_l_stereo_camera_frame"/>
    <child link="narrow_stereo_gazebo_r_stereo_camera_frame"/>
    <origin rpy="0 0 0" xyz="0 -0.09 0"/>
  </joint>
  <link name="narrow_stereo_gazebo_r_stereo_camera_frame">
    <inertial>
      <mass value="0.01"/>
      <origin xyz="0 0 0"/>
      <inertia ixx="0.001" ixy="0" ixz="0" iyy="0.001" iyz="0" izz="0.001"/>
    </inertial>
  </link>
  <joint name="narrow_stereo_gazebo_r_stereo_camera_optical_frame_joint" type="fixed">
    <parent link="narrow_stereo_gazebo_r_stereo_camera_frame"/>
    <child link="narrow_stereo_gazebo_r_stereo_camera_optical_frame"/>
    <origin rpy="-1.57079632679 0 -1.57079632679" xyz="0 0 0"/>
  </joint>
  <link name="narrow_stereo_gazebo_r_stereo_camera_optical_frame"/>
  <gazebo reference="narrow_stereo_gazebo_r_stereo_camera_frame">
    <sensor:camera name="narrow_stereo_gazebo_r_stereo_camera_sensor">
      <imageSize>640 480</imageSize>
      <imageFormat>L8</imageFormat>
      <hfov>45</hfov>
      <nearClip>0.1</nearClip>
      <farClip>100</farClip>
      <updateRate>25.0</updateRate>
      <controller:gazebo_ros_depth_camera name="narrow_stereo_gazebo_r_stereo_camera_controller" plugin="libgazebo_ros_depth_camera.so">
        <alwaysOn>true</alwaysOn>
        <updateRate>25.0</updateRate>
        <cameraName>narrow_stereo/right</cameraName>
        <imageTopicName>image_raw</imageTopicName>
        <cameraInfoTopicName>camera_info</cameraInfoTopicName>
        <frameName>narrow_stereo_optical_frame</frameName>
        <hackBaseline>0.09</hackBaseline>
        <CxPrime>320.5</CxPrime>
        <Cx>320.5</Cx>
        <Cy>240.5</Cy>
        <focalLength>772.55</focalLength>
        <distortionK1>0.0</distortionK1>
        <distortionK2>0.0</distortionK2>
        <distortionK3>0.0</distortionK3>
        <distortionT1>0.0</distortionT1>
        <distortionT2>0.0</distortionT2>
        <interface:camera name="narrow_stereo_gazebo_r_stereo_camera_iface"/>
      </controller:gazebo_ros_depth_camera>
    </sensor:camera>
    <turnGravityOff>true</turnGravityOff>
    <material>PR2/Blue</material>
  </gazebo>
  <gazebo reference="narrow_stereo_link">
    <material value="PR2/Blue"/>
    <turnGravityOff value="true"/>
  </gazebo>
  <gazebo reference="narrow_stereo_optical_frame">
    <material value="Gazebo/White"/>
    <turnGravityOff value="true"/>
  </gazebo>
  <gazebo reference="double_stereo_double_stereo_link">
    <material value="PR2/Blue"/>
  </gazebo>
  <gazebo reference="sensor_mount_sensor_link">
    <material value="PR2/Blue"/>
  </gazebo>
  <joint name="projector_wg6802418_frame_joint" type="fixed">
    <parent link="head_plate_frame"/>
    <child link="projector_wg6802418_frame"/>
    <origin rpy="0 0 0" xyz="0 0.11 0.0546"/>
  </joint>
  <link name="projector_wg6802418_frame">
    <inertial>
      <mass value="0.01"/>
      <origin rpy="0 0 0" xyz="0 0 0"/>
      <inertia ixx="0.001" ixy="0" ixz="0" iyy="0.001" iyz="0" izz="0.001"/>
    </inertial>
  </link>
  <joint name="projector_wg6802418_child_frame_joint" type="fixed">
    <parent link="projector_wg6802418_frame"/>
    <child link="projector_wg6802418_child_frame"/>
    <origin rpy="0 -1.57079632679 0" xyz="0 0 0"/>
  </joint>
  <link name="projector_wg6802418_child_frame">
    <inertial>
      <mass value="0.01"/>
      <origin rpy="0 0 0" xyz="0 0 0"/>
      <inertia ixx="0.001" ixy="0" ixz="0" iyy="0.001" iyz="0" izz="0.001"/>
    </inertial>
  </link>
  <gazebo reference="projector_wg6802418_child_frame">
    <projector name="projector_wg6802418_projector_wg6802418">


      <pose>0 0 0 0 -1.5707 0</pose>


      <texture>stereo_projection_pattern_high_res_red.png</texture>


      <fov>0.959931088597</fov>


      <near_clip>0.1</near_clip>


      <far_clip>10</far_clip>


    </projector>
  </gazebo>
  <gazebo>
    <controller:gazebo_ros_projector name="projector_wg6802418_controller" plugin="libgazebo_ros_projector.so">
      <projector>projector_wg6802418_child_frame/projector_wg6802418_projector_wg6802418</projector>
      <alwaysOn>true</alwaysOn>
      <updateRate>15.0</updateRate>
      <textureName>stereo_projection_pattern_high_res_red.png</textureName>
      <filterTextureName>stereo_projection_pattern_filter.png</filterTextureName>
      <textureTopicName>projector_wg6802418_controller/image</textureTopicName>
      <projectorTopicName>projector_wg6802418_controller/projector</projectorTopicName>
    </controller:gazebo_ros_projector>
  </gazebo>
  <joint name="head_mount_joint" type="fixed">
    <parent link="head_plate_frame"/>
    <child link="head_mount_link"/>
    <origin rpy="0 0 0" xyz="-0.138 0 0.091"/>
  </joint>
  <link name="head_mount_link">
    <inertial>
      <mass value="0.1"/>
      <origin rpy="0 0 0" xyz="0 0 0"/>
      <inertia ixx="0.01" ixy="0" ixz="0" iyy="0.01" iyz="0" izz="0.01"/>
    </inertial>
    <visual>
      <origin rpy="0 0 0" xyz="0 0 0"/>
      <geometry>
        <mesh filename="package://pr2_description/meshes/sensors/kinect_prosilica_v0/115x100_swept_back--coarse.STL" scale="0.001 0.001 0.001"/>
      </geometry>
      <material name="gray">
        <color rgba="0.5 0.5 0.5 1"/>
      </material>
    </visual>
    <collision>
      <origin rpy="0 0 0" xyz="0 0 0"/>
      <geometry>
        <sphere radius="0.0005"/>
      </geometry>
    </collision>
  </link>
  <joint name="head_mount_kinect_ir_joint" type="fixed">
    <parent link="head_mount_link"/>
    <child link="head_mount_kinect_ir_link"/>
    <origin rpy="0 0 0" xyz="-0.032267 0.0125 0.136453"/>
  </joint>
  <link name="head_mount_kinect_ir_link">
    <inertial>
      <mass value="0.1"/>
      <origin rpy="0 0 0" xyz="0 0 0"/>
      <inertia ixx="0.01" ixy="0" ixz="0" iyy="0.01" iyz="0" izz="0.01"/>
    </inertial>
    <visual>
      <origin rpy="0 0 0" xyz="0 0 0"/>
      <geometry>
        <sphere radius="0.0005"/>
      </geometry>
    </visual>
    <collision>
      <origin rpy="0 0 0" xyz="0 0 0"/>
      <geometry>
        <sphere radius="0.0005"/>
      </geometry>
    </collision>
  </link>
  <joint name="head_mount_kinect_ir_optical_frame_joint" type="fixed">
    <parent link="head_mount_kinect_ir_link"/>
    <child link="head_mount_kinect_ir_optical_frame"/>
    <origin rpy="-1.57079632679 0 -1.57079632679" xyz="0 0 0"/>
  </joint>
  <link name="head_mount_kinect_ir_optical_frame"/>
  <gazebo reference="head_mount_kinect_ir_link">
    <sensor:camera name="head_mount_ir_sensor">
      <imageFormat>L8</imageFormat>
      <imageSize>640 480</imageSize>
      <hfov>57</hfov>
      <nearClip>0.01</nearClip>
      <farClip>5</farClip>
      <updateRate>1.0</updateRate>
      <baseline>0.2</baseline>
      <controller:gazebo_ros_openni_kinect name="head_mount_kinect_ir_link_controller" plugin="libgazebo_ros_openni_kinect.so">
        <alwaysOn>true</alwaysOn>
        <updateRate>1.0</updateRate>
        <cameraName>head_mount_kinect_ir</cameraName>
        <imageTopicName>/head_mount_kinect/depth/image_raw</imageTopicName>
        <cameraInfoTopicName>/head_mount_kinect/depth/camera_info</cameraInfoTopicName>
        <depthImageTopicName>/head_mount_kinect/depth/image_raw</depthImageTopicName>
        <depthImageInfoTopicName>/head_mount_kinect/depth/camera_info</depthImageInfoTopicName>
        <pointCloudTopicName>/head_mount_kinect/depth/points</pointCloudTopicName>
        <frameName>head_mount_kinect_ir_optical_frame</frameName>
        <pointCloudCutoff>0.5</pointCloudCutoff>
        <distortionK1>0.00000001</distortionK1>
        <distortionK2>0.00000001</distortionK2>
        <distortionK3>0.00000001</distortionK3>
        <distortionT1>0.00000001</distortionT1>
        <distortionT2>0.00000001</distortionT2>
      </controller:gazebo_ros_openni_kinect>
    </sensor:camera>
    <material value="Gazebo/Red"/>
  </gazebo>
  <joint name="head_mount_kinect_rgb_joint" type="fixed">
    <parent link="head_mount_kinect_ir_link"/>
    <child link="head_mount_kinect_rgb_link"/>
    <origin rpy="0.004135698602 -0.011418438943 0.00154585264" xyz="-0.008114967638 -0.023055241899 0.002703111055"/>
  </joint>
  <link name="head_mount_kinect_rgb_link">
    <inertial>
      <mass value="0.1"/>
      <origin rpy="0 0 0" xyz="0 0 0"/>
      <inertia ixx="0.01" ixy="0" ixz="0" iyy="0.01" iyz="0" izz="0.01"/>
    </inertial>
    <visual>
      <origin rpy="0 0 0" xyz="0 0 0"/>
      <geometry>
        <sphere radius="0.0005"/>
      </geometry>
    </visual>
    <collision>
      <origin rpy="0 0 0" xyz="0 0 0"/>
      <geometry>
        <sphere radius="0.0005"/>
      </geometry>
    </collision>
  </link>
  <joint name="head_mount_kinect_rgb_optical_frame_joint" type="fixed">
    <parent link="head_mount_kinect_rgb_link"/>
    <child link="head_mount_kinect_rgb_optical_frame"/>
    <origin rpy="-1.57079632679 0 -1.57079632679" xyz="0 0 0"/>
  </joint>
  <link name="head_mount_kinect_rgb_optical_frame"/>
  <gazebo reference="head_mount_kinect_rgb_link">
    <sensor:camera name="head_mount_rgb_sensor">
      <imageFormat>R8G8B8</imageFormat>
      <imageSize>640 480</imageSize>
      <hfov>57</hfov>
      <nearClip>0.01</nearClip>
      <farClip>5</farClip>
      <updateRate>1.0</updateRate>
      <baseline>0.2</baseline>
      <controller:gazebo_ros_openni_kinect name="head_mount_kinect_rgb_link_controller" plugin="libgazebo_ros_openni_kinect.so">
        <alwaysOn>true</alwaysOn>
        <updateRate>1.0</updateRate>
        <cameraName>head_mount_kinect_rgb</cameraName>
        <imageTopicName>/head_mount_kinect/rgb/image_raw</imageTopicName>
        <cameraInfoTopicName>/head_mount_kinect/rgb/camera_info</cameraInfoTopicName>
        <pointCloudTopicName>/head_mount_kinect/depth_registered/points</pointCloudTopicName>
        <frameName>head_mount_kinect_rgb_optical_frame</frameName>
        <pointCloudCutoff>0.5</pointCloudCutoff>
        <distortionK1>0.00000001</distortionK1>
        <distortionK2>0.00000001</distortionK2>
        <distortionK3>0.00000001</distortionK3>
        <distortionT1>0.00000001</distortionT1>
        <distortionT2>0.00000001</distortionT2>
      </controller:gazebo_ros_openni_kinect>
    </sensor:camera>
    <material value="Gazebo/Red"/>
  </gazebo>
  <joint name="head_mount_prosilica_joint" type="fixed">
    <parent link="head_mount_link"/>
    <child link="head_mount_prosilica_link"/>
    <origin rpy="0 0 0" xyz="-0.046457 0.0125 0.088921"/>
  </joint>
  <link name="head_mount_prosilica_link">
    <inertial>
      <mass value="0.1"/>
      <origin rpy="0 0 0" xyz="0 0 0"/>
      <inertia ixx="0.01" ixy="0" ixz="0" iyy="0.01" iyz="0" izz="0.01"/>
    </inertial>
    <visual>
      <origin rpy="0 0 0" xyz="0 0 0"/>
      <geometry>
        <sphere radius="0.0005"/>
      </geometry>
    </visual>
    <collision>
      <origin rpy="0 0 0" xyz="0 0 0"/>
      <geometry>
        <sphere radius="0.0005"/>
      </geometry>
    </collision>
  </link>
  <joint name="head_mount_prosilica_optical_frame_joint" type="fixed">
    <parent link="head_mount_prosilica_link"/>
    <child link="head_mount_prosilica_optical_frame"/>
    <origin rpy="-1.57079632679 0 -1.57079632679" xyz="0 0 0"/>
  </joint>
  <link name="head_mount_prosilica_optical_frame"/>
  <gazebo reference="head_mount_prosilica_link">
    <sensor:camera name="head_mount_prosilica_link_sensor">
      <imageFormat>R8G8B8</imageFormat>
      <imageSize>320 240</imageSize>
      <hfov>64.2</hfov>
      <nearClip>0.1</nearClip>
      <farClip>100</farClip>
      <updateRate>1.0</updateRate>
      <controller:gazebo_ros_prosilica name="head_mount_prosilica_link_controller" plugin="libgazebo_ros_prosilica.so">
        <alwaysOn>true</alwaysOn>
        <updateRate>1.0</updateRate>
        <cameraName>prosilica_camera_1mb</cameraName>
        <imageTopicName>image_raw</imageTopicName>
        <cameraInfoTopicName>camera_info</cameraInfoTopicName>
        <pollServiceName>request_image</pollServiceName>
        <frameName>head_mount_prosilica_optical_frame</frameName>
        <distortionK1>0.0</distortionK1>
        <distortionK2>0.0</distortionK2>
        <distortionK3>0.0</distortionK3>
        <distortionT1>0.0</distortionT1>
        <distortionT2>0.0</distortionT2>
      </controller:gazebo_ros_prosilica>
    </sensor:camera>
    <sensor:camera name="head_mount_prosilica_link_sim_pcd_sensor">
      <imageFormat>R8G8B8</imageFormat>
      <imageSize>320 240</imageSize>
      <hfov>64.2</hfov>
      <nearClip>0.1</nearClip>
      <farClip>100</farClip>
      <updateRate>1.0</updateRate>
      <controller:gazebo_ros_openni_kinect name="head_mount_prosilica_link_sim_pcd_controller" plugin="libgazebo_ros_openni_kinect.so">
        <alwaysOn>true</alwaysOn>
        <updateRate>1.0</updateRate>
        <cameraName>prosilica_camera_1mb_sim_pcd</cameraName>
        <imageTopicName>image_raw</imageTopicName>
        <cameraInfoTopicName>camera_info</cameraInfoTopicName>
        <frameName>head_mount_prosilica_optical_frame</frameName>
      </controller:gazebo_ros_openni_kinect>
    </sensor:camera>
    <material value="Gazebo/Red"/>
  </gazebo>
  <joint name="laser_tilt_mount_joint" type="revolute">
    <parent link="torso_lift_link"/>
    <child link="laser_tilt_mount_link"/>
    <origin rpy="0 0 0" xyz="0.09893 0 0.227"/>
    <axis xyz="0 1 0"/>
    <limit effort="0.65" lower="-0.7854" upper="1.48353" velocity="10"/>
    <dynamics damping="0.008"/>
    <safety_controller k_position="100" k_velocity="0.05" soft_lower_limit="-0.7354" soft_upper_limit="1.43353"/>
    <calibration falling="0.0034904978"/>
  </joint>
  <link name="laser_tilt_mount_link">
    <inertial>
      <mass value="0.591"/>
      <origin rpy="0 0 0" xyz="-0.001136 0.00167 -0.00713"/>
      <inertia ixx="0.001195273" ixy="0.000023087" ixz="0.000037467" iyy="0.001083956" iyz="0.000034906" izz="0.000795014"/>
    </inertial>
    <visual>
      <origin rpy="0 0 0" xyz="0 0 0"/>
      <geometry>
        <mesh filename="package://pr2_description/meshes/tilting_laser_v0/tilting_hokuyo.dae"/>
      </geometry>
      <material name="Red"/>
    </visual>
    <collision>
      <origin rpy="0 0 0" xyz="0 0 0"/>
      <geometry>
        <mesh filename="package://pr2_description/meshes/tilting_laser_v0/tilting_hokuyo_L.stl"/>
      </geometry>
    </collision>
  </link>
  <joint name="laser_tilt_joint" type="fixed">
    <parent link="laser_tilt_mount_link"/>
    <child link="laser_tilt_link"/>
    <origin rpy="0 0 -0.013556390532" xyz="0 0 0.04545849653"/>
    <axis xyz="0 1 0"/>
  </joint>
  <link name="laser_tilt_link" type="laser">
    <inertial>
      <mass value="0.001"/>
      <origin rpy="0 0 0" xyz="0 0 0"/>
      <inertia ixx="0.0001" ixy="0" ixz="0" iyy="0.000001" iyz="0" izz="0.0001"/>
    </inertial>
  </link>
  <gazebo reference="laser_tilt_link">
    <sensor:ray name="laser_tilt">
      <rayCount>640</rayCount>
      <rangeCount>640</rangeCount>
      <laserCount>1</laserCount>
      <origin>0.0 0.0 0.0</origin>
      <displayRays>false</displayRays>
      <minAngle>-79.9999999086</minAngle>
      <maxAngle>79.9999999086</maxAngle>
      <minRange>0.08</minRange>
      <maxRange>10.0</maxRange>
      <resRange>0.01</resRange>
      <updateRate>40</updateRate>
      <controller:gazebo_ros_laser name="gazebo_ros_laser_tilt_controller" plugin="libgazebo_ros_laser.so">
        <gaussianNoise>0.005</gaussianNoise>
        <alwaysOn>true</alwaysOn>
        <updateRate>40</updateRate>
        <topicName>tilt_scan</topicName>
        <frameName>laser_tilt_link</frameName>
        <interface:laser name="gazebo_ros_laser_tilt_iface"/>
      </controller:gazebo_ros_laser>
    </sensor:ray>
  </gazebo>
  <gazebo reference="laser_tilt_mount_link"/>
  <transmission name="laser_tilt_mount_trans" type="pr2_mechanism_model/SimpleTransmission">
    <actuator name="laser_tilt_mount_motor"/>
    <joint name="laser_tilt_mount_joint"/>
    <mechanicalReduction>-6.05</mechanicalReduction>
  </transmission>
  <joint name="r_shoulder_pan_joint" type="revolute">
    <parent link="torso_lift_link"/>
    <child link="r_shoulder_pan_link"/>
    <origin rpy="0 0 0" xyz="0 -0.188 0"/>
    <axis xyz="0 0 1"/>
    <limit effort="30" lower="-2.2853981634" upper="0.714601836603" velocity="2.088"/>
    <dynamics damping="10.0"/>
    <safety_controller k_position="100" k_velocity="10" soft_lower_limit="-2.1353981634" soft_upper_limit="0.564601836603"/>
    <calibration rising="-0.794099973123"/>
  </joint>
  <link name="r_shoulder_pan_link">
    <inertial>
      <mass value="25.799322"/>
      <origin rpy="0 0 0" xyz="-0.001201 0.024513 -0.098231"/>
      <inertia ixx="0.86617914248" ixy="-0.06086507933" ixz="-0.12118061183" iyy="0.87421714893" iyz="-0.05886609911" izz="0.27353821674"/>
    </inertial>
    <visual>
      <origin rpy="0 0 0" xyz="0 0 0"/>
      <geometry>
        <mesh filename="package://pr2_description/meshes/shoulder_v0/shoulder_pan.dae"/>
      </geometry>
      <material name="Blue"/>
    </visual>
    <collision>
      <origin rpy="0 0 0" xyz="0 0 0"/>
      <geometry>
        <mesh filename="package://pr2_description/meshes/shoulder_v0/shoulder_pan.stl"/>
      </geometry>
    </collision>
  </link>
  <joint name="r_shoulder_lift_joint" type="revolute">
    <parent link="r_shoulder_pan_link"/>
    <child link="r_shoulder_lift_link"/>
    <origin rpy="0 0 0" xyz="0.1 0 0"/>
    <axis xyz="0 1 0"/>
    <limit effort="30" lower="-0.5236" upper="1.3963" velocity="2.082"/>
    <dynamics damping="10.0"/>
    <safety_controller k_position="100" k_velocity="10" soft_lower_limit="-0.3536" soft_upper_limit="1.2963"/>
    <calibration falling="-0.010516814386"/>
  </joint>
  <link name="r_shoulder_lift_link">
    <inertial>
      <mass value="2.74988"/>
      <origin rpy="0 0 0" xyz="0.02195 -0.02664 -0.03127"/>
      <inertia ixx="0.02105584615" ixy="0.00496704022" ixz="-0.00194808955" iyy="0.02127223737" iyz="0.0011042549" izz="0.01975753814"/>
    </inertial>
    <visual>
      <origin rpy="0 0 0" xyz="0 0 0"/>
      <geometry>
        <mesh filename="package://pr2_description/meshes/shoulder_v0/shoulder_lift.dae"/>
      </geometry>
      <material name="Grey"/>
    </visual>
    <collision>
      <origin rpy="0 0 0" xyz="0 0 0"/>
      <geometry>
        <mesh filename="package://pr2_description/meshes/shoulder_v0/shoulder_lift.stl"/>
      </geometry>
    </collision>
  </link>
  <joint name="r_upper_arm_roll_joint" type="revolute">
    <parent link="r_shoulder_lift_link"/>
    <child link="r_upper_arm_roll_link"/>
    <origin rpy="0 0 0" xyz="0 0 0"/>
    <axis xyz="1 0 0"/>
    <limit effort="30" lower="-3.9" upper="0.8" velocity="3.27"/>
    <dynamics damping="0.1"/>
    <safety_controller k_position="100" k_velocity="2" soft_lower_limit="-3.75" soft_upper_limit="0.65"/>
    <calibration rising="-1.555959398147"/>
  </joint>
  <link name="r_upper_arm_roll_link">
    <inertial>
      <mass value="0.1"/>
      <origin rpy="0 0 0" xyz="0 0 0"/>
      <inertia ixx="0.01" ixy="0" ixz="0" iyy="0.01" iyz="0" izz="0.01"/>
    </inertial>
    <visual>
      <origin rpy="0 0 0" xyz="0 0 0"/>
      <geometry>
        <mesh filename="package://pr2_description/meshes/shoulder_v0/upper_arm_roll.stl"/>
      </geometry>
      <material name="RollLinks"/>
    </visual>
    <collision>
      <origin rpy="0 0 0" xyz="0 0 0"/>
      <geometry>
        <mesh filename="package://pr2_description/meshes/shoulder_v0/upper_arm_roll_L.stl"/>
      </geometry>
    </collision>
  </link>
  <gazebo reference="r_upper_arm_roll_link">
    <material value="PR2/RollLinks"/>
    <turnGravityOff>true</turnGravityOff>
  </gazebo>
  <gazebo reference="r_upper_arm_roll_joint">
    <stopKd value="1.0"/>
    <stopKp value="1000000.0"/>
    <fudgeFactor value="0.5"/>
  </gazebo>
  <transmission name="r_upper_arm_roll_trans" type="pr2_mechanism_model/SimpleTransmission">
    <actuator name="r_upper_arm_roll_motor"/>
    <joint name="r_upper_arm_roll_joint"/>
    <mechanicalReduction>32.6525111499</mechanicalReduction>
  </transmission>
  <gazebo reference="r_shoulder_pan_link">
    <turnGravityOff>true</turnGravityOff>
  </gazebo>
  <gazebo reference="r_shoulder_pan_joint">
    <stopKd value="1.0"/>
    <stopKp value="1000000.0"/>
  </gazebo>
  <gazebo reference="r_shoulder_lift_link">
    <turnGravityOff>true</turnGravityOff>
  </gazebo>
  <gazebo reference="r_shoulder_lift_joint">
    <stopKd value="1.0"/>
    <stopKp value="1000000.0"/>
  </gazebo>
  <transmission name="r_shoulder_pan_trans" type="pr2_mechanism_model/SimpleTransmission">
    <actuator name="r_shoulder_pan_motor"/>
    <joint name="r_shoulder_pan_joint"/>
    <mechanicalReduction>63.1552452977</mechanicalReduction>
    <compensator k_belt="4000.0" kd_motor="15.0" lambda_combined="0.0" lambda_joint="40.0" lambda_motor="40.0" mass_motor="0.05"/>
  </transmission>
  <transmission name="r_shoulder_lift_trans" type="pr2_mechanism_model/SimpleTransmission">
    <actuator name="r_shoulder_lift_motor"/>
    <joint name="r_shoulder_lift_joint"/>
    <mechanicalReduction>61.8948225713</mechanicalReduction>
    <compensator k_belt="4000.0" kd_motor="10.0" lambda_combined="0.0" lambda_joint="60.0" lambda_motor="60.0" mass_motor="0.05"/>
  </transmission>
  <joint name="r_upper_arm_joint" type="fixed">
    <parent link="r_upper_arm_roll_link"/>
    <child link="r_upper_arm_link"/>
    <origin rpy="0 0 0" xyz="0 0 0"/>
  </joint>
  <link name="r_upper_arm_link">
    <inertial>
      <mass value="6.01769"/>
      <origin xyz="0.21398 -0.01621 -0.0002"/>
      <inertia ixx="0.01537748957" ixy="0.00375711247" ixz="-0.00070852914" iyy="0.0747367044" iyz="-0.0001793645" izz="0.07608763307"/>
    </inertial>
    <visual>
      <origin rpy="0 0 0" xyz="0 0 0"/>
      <geometry>
        <mesh filename="package://pr2_description/meshes/upper_arm_v0/upper_arm.dae"/>
      </geometry>
      <material name="Green"/>
    </visual>
    <collision>
      <origin rpy="0 0 0" xyz="0 0 0"/>
      <geometry>
        <mesh filename="package://pr2_description/meshes/upper_arm_v0/upper_arm.stl"/>
      </geometry>
    </collision>
  </link>
  <gazebo reference="r_upper_arm_link">
    <turnGravityOff>true</turnGravityOff>
  </gazebo>
  <joint name="r_forearm_roll_joint" type="continuous">
    <parent link="r_elbow_flex_link"/>
    <child link="r_forearm_roll_link"/>
    <origin rpy="0 0 0" xyz="0 0 0"/>
    <axis xyz="1 0 0"/>
    <limit effort="30" velocity="3.6"/>
    <dynamics damping="0.1"/>
    <safety_controller k_velocity="1"/>
    <calibration rising="-0.011467533262"/>
  </joint>
  <link name="r_forearm_roll_link">
    <inertial>
      <mass value="0.1"/>
      <origin xyz="0 0 0"/>
      <inertia ixx="0.01" ixy="0" ixz="0" iyy="0.01" iyz="0" izz="0.01"/>
    </inertial>
    <visual>
      <origin rpy="0 0 0" xyz="0 0 0"/>
      <geometry>
        <mesh filename="package://pr2_description/meshes/upper_arm_v0/forearm_roll.stl"/>
      </geometry>
      <material name="RollLinks"/>
    </visual>
    <collision>
      <origin rpy="0 0 0" xyz="0 0 0"/>
      <geometry>
        <mesh filename="package://pr2_description/meshes/upper_arm_v0/forearm_roll_L.stl"/>
      </geometry>
    </collision>
  </link>
  <gazebo reference="r_forearm_roll_link">
    <material value="PR2/RollLinks"/>
    <turnGravityOff>true</turnGravityOff>
  </gazebo>
  <gazebo reference="r_forearm_roll_joint">
    <fudgeFactor value="0.5"/>
  </gazebo>
  <transmission name="r_forearm_roll_trans" type="pr2_mechanism_model/SimpleTransmission">
    <actuator name="r_forearm_roll_motor"/>
    <joint name="r_forearm_roll_joint"/>
    <mechanicalReduction>-90.5142857143</mechanicalReduction>
  </transmission>
  <joint name="r_elbow_flex_joint" type="revolute">
    <parent link="r_upper_arm_link"/>
    <child link="r_elbow_flex_link"/>
    <origin rpy="0 0 0" xyz="0.4 0 0"/>
    <axis xyz="0 1 0"/>
    <limit effort="30" lower="-2.3213" upper="0" velocity="3.3"/>
    <dynamics damping="1.0"/>
    <safety_controller k_position="100" k_velocity="3" soft_lower_limit="-2.1213" soft_upper_limit="-0.15"/>
    <calibration falling="-1.1606"/>
  </joint>
  <link name="r_elbow_flex_link">
    <inertial>
      <mass value="1.90327"/>
      <origin xyz="0.01014 0.00032 -0.01211"/>
      <inertia ixx="0.00346541989" ixy="0.00004066825" ixz="0.00043171614" iyy="0.00441606455" iyz="-0.00003968914" izz="0.00359156824"/>
    </inertial>
    <visual>
      <origin rpy="0 0 0" xyz="0 0 0"/>
      <geometry>
        <mesh filename="package://pr2_description/meshes/upper_arm_v0/elbow_flex.dae"/>
      </geometry>
      <material name="Grey"/>
    </visual>
    <collision>
      <origin rpy="0 0 0" xyz="0 0 0"/>
      <geometry>
        <mesh filename="package://pr2_description/meshes/upper_arm_v0/elbow_flex.stl"/>
      </geometry>
    </collision>
  </link>
  <gazebo reference="r_elbow_flex_joint">
    <initial_joint_position>-1.0</initial_joint_position>
  </gazebo>
  <gazebo reference="r_elbow_flex_link">
    <turnGravityOff>true</turnGravityOff>
  </gazebo>
  <gazebo reference="r_elbow_flex_joint">
    <stopKd value="1.0"/>
    <stopKp value="1000000.0"/>
  </gazebo>
  <transmission name="r_elbow_flex_trans" type="pr2_mechanism_model/SimpleTransmission">
    <actuator name="r_elbow_flex_motor"/>
    <joint name="r_elbow_flex_joint"/>
    <mechanicalReduction>-36.167452007</mechanicalReduction>
  </transmission>
  <joint name="r_forearm_joint" type="fixed">
    <parent link="r_forearm_roll_link"/>
    <child link="r_forearm_link"/>
    <origin rpy="0 0 0" xyz="0 0 0"/>
  </joint>
  <link name="r_forearm_link">
    <inertial>
      <mass value="2.57968"/>
      <origin xyz="0.18791 -0.00017 -0.00912"/>
      <inertia ixx="0.00364857222" ixy="0.00005215877" ixz="0.00071534842" iyy="0.01507736897" iyz="-0.0000131077" izz="0.01659310749"/>
    </inertial>
    <visual>
      <origin rpy="0 0 0" xyz="0 0 0"/>
      <geometry>
        <mesh filename="package://pr2_description/meshes/forearm_v0/forearm.dae"/>
      </geometry>
      <material name="Grey"/>
    </visual>
    <collision>
      <origin rpy="0 0 0" xyz="0 0 0"/>
      <geometry>
        <mesh filename="package://pr2_description/meshes/forearm_v0/forearm.stl"/>
      </geometry>
    </collision>
  </link>
  <joint name="r_wrist_flex_joint" type="revolute">
    <parent link="r_forearm_link"/>
    <child link="r_wrist_flex_link"/>
    <origin rpy="0 0 0" xyz="0.321 0 0"/>
    <axis xyz="0 1 0"/>
    <limit effort="10" lower="-2.18" upper="0" velocity="3.078"/>
    <dynamics damping="0.1"/>
    <safety_controller k_position="20" k_velocity="4" soft_lower_limit="-2" soft_upper_limit="-0.1"/>
    <calibration falling="-0.510313841655"/>
  </joint>
  <link name="r_wrist_flex_link">
    <inertial>
      <mass value="0.61402"/>
      <origin xyz="-0.00157 0 -0.00075"/>
      <inertia ixx="0.00065165722" ixy="0.00000028864" ixz="0.00000303477" iyy="0.00019824443" iyz="-0.00000022645" izz="0.00064450498"/>
    </inertial>
    <visual>
      <origin rpy="0 0 0" xyz="0 0 0"/>
      <geometry>
        <mesh filename="package://pr2_description/meshes/forearm_v0/wrist_flex.dae"/>
      </geometry>
      <material name="Grey"/>
    </visual>
    <collision>
      <origin rpy="0 0 0" xyz="0 0 0"/>
      <geometry>
        <mesh filename="package://pr2_description/meshes/forearm_v0/wrist_flex.stl"/>
      </geometry>
    </collision>
  </link>
  <joint name="r_wrist_roll_joint" type="continuous">
    <parent link="r_wrist_flex_link"/>
    <child link="r_wrist_roll_link"/>
    <origin rpy="0 0 0" xyz="0 0 0"/>
    <axis xyz="1 0 0"/>
    <limit effort="10" velocity="3.6"/>
    <dynamics damping="0.1"/>
    <safety_controller k_velocity="2"/>
    <calibration rising="-1.670942507043"/>
  </joint>
  <link name="r_wrist_roll_link">
    <inertial>
      <mass value="0.1"/>
      <origin xyz="0 0 0"/>
      <inertia ixx="0.01" ixy="0" ixz="0" iyy="0.01" iyz="0" izz="0.01"/>
    </inertial>
    <visual>
      <origin rpy="0 0 0" xyz="0 0 0"/>
      <geometry>
        <mesh filename="package://pr2_description/meshes/forearm_v0/wrist_roll.stl"/>
      </geometry>
      <material name="RollLinks"/>
    </visual>
    <collision>
      <origin rpy="0 0 0" xyz="0 0 0"/>
      <geometry>
        <mesh filename="package://pr2_description/meshes/forearm_v0/wrist_roll_L.stl"/>
      </geometry>
    </collision>
  </link>
  <gazebo reference="r_forearm_link">
    <turnGravityOff>true</turnGravityOff>
  </gazebo>
  <gazebo reference="r_wrist_flex_link">
    <turnGravityOff>true</turnGravityOff>
  </gazebo>
  <gazebo reference="r_wrist_flex_joint">
    <stopKd value="1.0"/>
    <stopKp value="1000000.0"/>
  </gazebo>
  <gazebo reference="r_wrist_roll_link">
    <turnGravityOff>true</turnGravityOff>
    <material value="PR2/RollLinks"/>
  </gazebo>
  <gazebo reference="r_wrist_roll_joint">
    <fudgeFactor value="0.5"/>
  </gazebo>
  <transmission name="r_wrist_trans" type="pr2_mechanism_model/WristTransmission">
    <rightActuator mechanicalReduction="60.1714285714" name="r_wrist_r_motor"/>
    <leftActuator mechanicalReduction="60.1714285714" name="r_wrist_l_motor"/>
    <flexJoint mechanicalReduction="-1.0" name="r_wrist_flex_joint"/>
    <rollJoint mechanicalReduction="1.0" name="r_wrist_roll_joint" offset="1.4835298641951802"/>
  </transmission>
  <joint name="r_force_torque_adapter_joint" type="fixed">
     <parent link="r_wrist_roll_link"/>
    <child link="r_force_torque_adapter_link"/>
    <origin rpy="0 -1.5707963267948966 0" xyz="0.0356 0 0"/>
  </joint>
  <link name="r_force_torque_adapter_link"/>
  <joint name="r_force_torque_joint" type="fixed">
    <parent link="r_force_torque_adapter_link"/>
    <child link="r_force_torque_link"/>
    <origin rpy="0 0 1.2217304763960306" xyz="0 0 0"/>
  </joint>
  <link name="r_force_torque_link">
    <visual>
      <origin rpy="0 0 0" xyz="0 0 -0.0120"/>
      <geometry>
       <cylinder length="0.0356" radius="0.0225"/>
      </geometry>
      <material name="Grey"/>
    </visual>
  </link>
  <joint name="r_gripper_palm_joint" type="fixed">
    <origin rpy="0 1.5707963267948966 -1.2217304763960306" xyz="0 0 0"/>
    <parent link="r_force_torque_link"/>
    <child link="r_gripper_palm_link"/>
  </joint>
  <link name="r_gripper_palm_link">
    <inertial>
      <mass value="0.58007"/>
      <origin rpy="0 0 0" xyz="0.06623 0.00053 -0.00119"/>
      <inertia ixx="0.00035223921" ixy="-0.00001580476" ixz="-0.00000091750" iyy="0.00067741312" iyz="-0.00000059554" izz="0.00086563316"/>
    </inertial>
    <visual>
      <origin rpy="0 0 0" xyz="0 0 0"/>
      <geometry>
        <mesh filename="package://pr2_description/meshes/gripper_v0/gripper_palm.dae"/>
      </geometry>
      <material name="Red"/>
    </visual>
    <collision>
      <origin rpy="0 0 0" xyz="0 0 0"/>
      <geometry>
        <mesh filename="package://pr2_description/meshes/gripper_v0/gripper_palm.stl"/>
      </geometry>
    </collision>
  </link>
  <joint name="r_gripper_led_joint" type="fixed">
    <parent link="r_gripper_palm_link"/>
    <child link="r_gripper_led_frame"/>
    <origin rpy="0 0 0" xyz="0.0513 0 0.0244"/>
  </joint>
  <link name="r_gripper_led_frame"/>
  <joint name="r_gripper_motor_accelerometer_joint" type="fixed">
    <parent link="r_gripper_palm_link"/>
    <child link="r_gripper_motor_accelerometer_link"/>
    <origin rpy="0 0 0" xyz="0 0 0"/>
  </joint>
  <link name="r_gripper_motor_accelerometer_link">
    <inertial>
      <mass value="0.001"/>
      <origin rpy="0 0 0" xyz="0 0 0"/>
      <inertia ixx="0.001" ixy="0" ixz="0" iyy="0.001" iyz="0" izz="0.001"/>
    </inertial>
    <visual>
      <origin rpy="0 0 0" xyz="0 0 0"/>
      <geometry>
        <box size="0.001 0.001 0.001"/>
      </geometry>
    </visual>
    <collision>
      <origin rpy="0 0 0" xyz="0 0 0"/>
      <geometry>
        <box size="0.001 0.001 0.001"/>
      </geometry>
    </collision>
  </link>
  <joint name="r_gripper_tool_joint" type="fixed">
    <parent link="r_gripper_palm_link"/>
    <child link="r_gripper_tool_frame"/>
    <origin rpy="0 0 0" xyz="0.18 0 0"/>
  </joint>
  <link name="r_gripper_tool_frame"/>
  <link name="r_gripper_motor_slider_link">
    <inertial>
      <mass value="0.01"/>
      <origin rpy="0 0 0" xyz="0 0 0"/>
      <inertia ixx="0.001" ixy="0" ixz="0" iyy="0.001" iyz="0" izz="0.001"/>
    </inertial>
  </link>
  <joint name="r_gripper_motor_slider_joint" type="prismatic">
    <parent link="r_gripper_palm_link"/>
    <child link="r_gripper_motor_slider_link"/>
    <origin rpy="0 0 0" xyz="0.16828 0 0"/>
    <axis xyz="1 0 0"/>
    <limit effort="1000" lower="-0.1" upper="0.1" velocity="0.2"/>
  </joint>
  <link name="r_gripper_motor_screw_link">
    <inertial>
      <mass value="0.01"/>
      <origin rpy="0 0 0" xyz="0 0 0"/>
      <inertia ixx="0.0001" ixy="0" ixz="0" iyy="0.0001" iyz="0" izz="0.0001"/>
    </inertial>
  </link>
  <joint name="r_gripper_motor_screw_joint" type="continuous">
    <parent link="r_gripper_motor_slider_link"/>
    <child link="r_gripper_motor_screw_link"/>
    <origin rpy="0 0 0" xyz="0 0 0"/>
    <axis xyz="0 1 0"/>
    <dynamics damping="0.0001"/>
  </joint>
  <joint name="r_gripper_l_finger_joint" type="revolute">
    <parent link="r_gripper_palm_link"/>
    <child link="r_gripper_l_finger_link"/>
    <origin rpy="0 0 0" xyz="0.07691 0.01 0"/>
    <axis xyz="0 0 1"/>
    <limit effort="1000" lower="0" upper="0.548" velocity="0.5"/>
    <dynamics damping="0.02"/>
  </joint>
  <link name="r_gripper_l_finger_link">
    <inertial>
      <mass value="0.17126"/>
      <origin rpy="0 0 0" xyz="0.03598 0.0173 -0.00164"/>
      <inertia ixx="0.00007756198" ixy="0.00000149095" ixz="-0.00000983385" iyy="0.00019708305" iyz="-0.00000306125" izz="0.00018105446"/>
    </inertial>
    <visual>
      <origin rpy="0 0 0" xyz="0 0 0"/>
      <geometry>
        <mesh filename="package://pr2_description/meshes/gripper_v0/l_finger.dae"/>
      </geometry>
      <material name="Grey"/>
    </visual>
    <collision>
      <origin rpy="0 0 0" xyz="0 0 0"/>
      <geometry>
        <mesh filename="package://pr2_description/meshes/gripper_v0/l_finger.stl"/>
      </geometry>
    </collision>
  </link>
  <joint name="r_gripper_r_finger_joint" type="revolute">
    <parent link="r_gripper_palm_link"/>
    <child link="r_gripper_r_finger_link"/>
    <!--origin rpy="3.14159265359 0 0" xyz="0.07691 -0.01 0"/-->
    <origin rpy="0 0 0" xyz="0.07691 -0.01 0"/><!--Fixed Caelan-->
    <axis xyz="0 0 -1"/>
    <limit effort="1000" lower="0" upper="0.548" velocity="0.5"/>
    <dynamics damping="0.02"/>
  </joint>
  <link name="r_gripper_r_finger_link">
    <inertial>
      <mass value="0.17389"/>
      <origin rpy="0 0 0" xyz="0.03576 -0.01736 -0.00095"/>
      <inertia ixx="0.0000773841" ixy="-0.00000209309" ixz="-0.00000836228" iyy="0.00019847383" iyz="0.0000024611" izz="0.00018106988"/>
    </inertial>
    <visual>
      <!--origin rpy="0 0 0" xyz="0 0 0"/-->
      <origin rpy="3.14159265359 0 0" xyz="0 0 0"/><!--Fixed Caelan-->
      <geometry>
        <mesh filename="package://pr2_description/meshes/gripper_v0/l_finger.dae"/>
      </geometry>
      <material name="Grey"/>
    </visual>
    <collision>
      <!--origin rpy="0 0 0" xyz="0 0 0"/-->
      <origin rpy="3.14159265359 0 0" xyz="0 0 0"/><!--Fixed Caelan-->
      <geometry>
        <mesh filename="package://pr2_description/meshes/gripper_v0/l_finger.stl"/>
      </geometry>
    </collision>
  </link>
  <joint name="r_gripper_l_finger_tip_joint" type="revolute">
    <parent link="r_gripper_l_finger_link"/>
    <child link="r_gripper_l_finger_tip_link"/>
    <origin rpy="0 0 0" xyz="0.09137 0.00495 0"/>
    <axis xyz="0 0 -1"/>
    <limit effort="1000" lower="0" upper="0.548" velocity="0.5"/>
    <dynamics damping="0.001"/>
  </joint>
  <link name="r_gripper_l_finger_tip_link">
    <inertial>
      <mass value="0.04419"/>
      <origin rpy="0 0 0" xyz="0.00423 0.00284 0"/>
      <inertia ixx="0.00000837047" ixy="0.00000583632" ixz="0" iyy="0.00000987067" iyz="0" izz="0.00001541768"/>
    </inertial>
    <visual>
      <origin rpy="0 0 0" xyz="0 0 0"/>
      <geometry>
        <mesh filename="package://pr2_description/meshes/gripper_v0/l_finger_tip.dae"/>
      </geometry>
      <material name="Green"/>
    </visual>
    <collision>
      <origin rpy="0 0 0" xyz="0 0 0"/>
      <geometry>
        <mesh filename="package://pr2_description/meshes/gripper_v0/l_finger_tip.stl"/>
      </geometry>
    </collision>
  </link>
  <joint name="r_gripper_r_finger_tip_joint" type="revolute">
    <parent link="r_gripper_r_finger_link"/>
    <child link="r_gripper_r_finger_tip_link"/>
    <origin rpy="0 0 0" xyz="0.09137 -0.00495 0"/>
    <axis xyz="0 0 1"/>
    <limit effort="1000" lower="0" upper="0.548" velocity="0.5"/>
    <dynamics damping="0.001"/>
  </joint>
  <link name="r_gripper_r_finger_tip_link">
    <inertial>
      <mass value="0.04419"/>
      <origin rpy="0 0 0" xyz="0.00423 -0.00284 0"/>
      <inertia ixx="0.00000837047" ixy="-0.00000583632" ixz="0" iyy="0.00000987067" iyz="0" izz="0.00001541768"/>
    </inertial>
    <visual>
      <origin rpy="3.14159265359 0 0" xyz="0 0 0"/>
      <geometry>
        <mesh filename="package://pr2_description/meshes/gripper_v0/l_finger_tip.dae"/>
      </geometry>
      <material name="Green"/>
    </visual>
    <collision>
      <origin rpy="3.14159265359 0 0" xyz="0 0 0"/>
      <geometry>
        <mesh filename="package://pr2_description/meshes/gripper_v0/l_finger_tip.stl"/>
      </geometry>
    </collision>
  </link>
  <gazebo reference="r_gripper_l_finger_link">
    <turnGravityOff>true</turnGravityOff>
    <mu1 value="500.0"/>
    <mu2 value="500.0"/>
    <kp value="1000000.0"/>
    <kd value="1.0"/>
  </gazebo>
  <gazebo reference="r_gripper_l_finger_joint">
    <stopKd value="1.0"/>
    <stopKp value="10000000.0"/>
    <fudgeFactor value="1.0"/>
    <provideFeedback value="true"/>
  </gazebo>
  <gazebo reference="r_gripper_r_finger_link">
    <turnGravityOff>true</turnGravityOff>
    <mu1 value="500.0"/>
    <mu2 value="500.0"/>
    <kp value="1000000.0"/>
    <kd value="1.0"/>
  </gazebo>
  <gazebo reference="r_gripper_r_finger_joint">
    <stopKd value="1.0"/>
    <stopKp value="10000000.0"/>
    <fudgeFactor value="1.0"/>
    <provideFeedback value="true"/>
  </gazebo>
  <gazebo reference="r_gripper_l_finger_tip_link">
    <turnGravityOff>true</turnGravityOff>
    <selfCollide>false</selfCollide>
    <sensor:contact name="r_gripper_l_finger_tip_contact_sensor">
      <geom>r_gripper_l_finger_tip_link_geom</geom>
      <updateRate>100.0</updateRate>
      <controller:gazebo_ros_bumper name="r_gripper_l_finger_tip_gazebo_ros_bumper_controller" plugin="libgazebo_ros_bumper.so">
        <alwaysOn>true</alwaysOn>
        <frameName>r_gripper_l_finger_tip_link</frameName>
        <updateRate>100.0</updateRate>
        <bumperTopicName>r_gripper_l_finger_tip_bumper</bumperTopicName>
        <interface:bumper name="r_gripper_l_finger_tip_gazebo_ros_bumper_iface"/>
      </controller:gazebo_ros_bumper>
    </sensor:contact>
    <mu1 value="500.0"/>
    <mu2 value="500.0"/>
    <kp value="10000000.0"/>
    <kd value="1.0"/>
  </gazebo>
  <gazebo reference="r_gripper_l_finger_tip_joint">
    <stopKd value="1.0"/>
    <stopKp value="10000000.0"/>
    <fudgeFactor value="1.0"/>
    <provideFeedback value="true"/>
  </gazebo>
  <gazebo reference="r_gripper_r_finger_tip_link">
    <turnGravityOff>true</turnGravityOff>
    <selfCollide>false</selfCollide>
    <sensor:contact name="r_gripper_r_finger_tip_contact_sensor">
      <geom>r_gripper_r_finger_tip_link_geom</geom>
      <updateRate>100.0</updateRate>
      <controller:gazebo_ros_bumper name="r_gripper_r_finger_tip_gazebo_ros_bumper_controller" plugin="libgazebo_ros_bumper.so">
        <alwaysOn>true</alwaysOn>
        <frameName>r_gripper_r_finger_tip_link</frameName>
        <updateRate>100.0</updateRate>
        <bumperTopicName>r_gripper_r_finger_tip_bumper</bumperTopicName>
        <interface:bumper name="r_gripper_r_finger_tip_gazebo_ros_bumper_iface"/>
      </controller:gazebo_ros_bumper>
    </sensor:contact>
    <mu1 value="500.0"/>
    <mu2 value="500.0"/>
    <kp value="10000000.0"/>
    <kd value="1.0"/>
  </gazebo>
  <gazebo>
    <controller:gazebo_ros_p3d name="p3d_r_gripper_l_finger_controller" plugin="libgazebo_ros_p3d.so">
      <alwaysOn>true</alwaysOn>
      <updateRate>100.0</updateRate>
      <bodyName/>
      <topicName>r_gripper_l_finger_pose_ground_truth</topicName>
      <gaussianNoise>0.0</gaussianNoise>
      <frameName>base_link</frameName>
      <interface:position name="p3d_r_gripper_l_finger_position_iface"/>
    </controller:gazebo_ros_p3d>
    <controller:gazebo_ros_f3d name="f3d_r_gripper_l_finger_controller" plugin="libgazebo_ros_f3d.so">
      <alwaysOn>true</alwaysOn>
      <updateRate>100.0</updateRate>
      <bodyName/>
      <topicName>r_gripper_l_finger_force_ground_truth</topicName>
      <frameName>r_gripper_l_finger_link</frameName>
      <interface:position name="f3d_r_gripper_l_finger_force_iface"/>
    </controller:gazebo_ros_f3d>
  </gazebo>
  <gazebo reference="r_gripper_r_finger_tip_joint">
    <stopKd value="1.0"/>
    <stopKp value="10000000.0"/>
    <fudgeFactor value="1.0"/>
    <provideFeedback value="true"/>
  </gazebo>
  <gazebo>
    <body:box name="r_gripper_l_parallel_link">
      <massMatrix>true</massMatrix>
      <mass>0.17126</mass>
      <ixx>7.7562e-05</ixx>
      <ixy>1.49095e-06</ixy>
      <ixz>-9.83385e-06</ixz>
      <iyy>0.000197083</iyy>
      <iyz>-3.06125e-06</iyz>
      <izz>0.000181054</izz>
      <cx>0.03598</cx>
      <cy>0.0173</cy>
      <cz>-0.00164</cz>
      <xyz>0.82991 -0.157 0.790675</xyz>
      <rpy>0 -0 0</rpy>
      <turnGravityOff>true</turnGravityOff>
      <selfCollide>false</selfCollide>
    </body:box>
    <body:box name="r_gripper_r_parallel_link">
      <massMatrix>true</massMatrix>
      <mass>0.17389</mass>
      <ixx>7.73841e-05</ixx>
      <ixy>-2.09309e-06</ixy>
      <ixz>-8.36228e-06</ixz>
      <iyy>0.000198474</iyy>
      <iyz>2.4611e-06</iyz>
      <izz>0.00018107</izz>
      <cx>0.03576</cx>
      <cy>-0.01736</cy>
      <cz>-0.00095</cz>
      <xyz>0.82991 -0.219 0.790675</xyz>
      <rpy>0 -0 0</rpy>
      <turnGravityOff>true</turnGravityOff>
      <selfCollide>false</selfCollide>
    </body:box>
  </gazebo>
  <gazebo>
    <joint:screw name="r_gripper_r_screw_screw_joint">
      <body1/>
      <body2/>
      <anchor>r_gripper_motor_screw_link</anchor>
      <anchorOffset>0 0 0</anchorOffset>
      <axis>0 1 0</axis>
      <threadPitch>-3141.6</threadPitch>
    </joint:screw>
    <joint:screw name="r_gripper_l_screw_screw_joint">
      <body1/>
      <body2/>
      <anchor>r_gripper_motor_screw_link</anchor>
      <anchorOffset>0 0 0</anchorOffset>
      <axis>0 1 0</axis>
      <threadPitch>3141.6</threadPitch>
    </joint:screw>
  </gazebo>
  <gazebo>
    <joint:hinge name="r_gripper_r_parallel_root_joint">
      <body1/>
      <body2/>
      <anchor>r_gripper_palm_link</anchor>
      <axis>0 0 -1</axis>
      <damping>0.2</damping>
      <anchorOffset>0.05891 -0.031 0</anchorOffset>
    </joint:hinge>
    <joint:hinge name="r_gripper_l_parallel_root_joint">
      <body1/>
      <body2/>
      <anchor>r_gripper_palm_link</anchor>
      <axis>0 0 1</axis>
      <damping>0.2</damping>
      <anchorOffset>0.05891 0.031 0</anchorOffset>
    </joint:hinge>
    <joint:hinge name="r_gripper_r_parallel_tip_joint">
      <body1/>
      <body2/>
      <anchor>r_gripper_r_finger_tip_link</anchor>
      <axis>0 0 1</axis>
      <anchorOffset>-0.018 -0.021 0</anchorOffset>
    </joint:hinge>
    <joint:hinge name="r_gripper_l_parallel_tip_joint">
      <body1/>
      <body2/>
      <anchor>r_gripper_l_finger_tip_link</anchor>
      <axis>0 0 1</axis>
      <anchorOffset>-0.018 0.021 0</anchorOffset>
    </joint:hinge>
    <joint:slider name="r_gripper_joint">
      <body1/>
      <body2/>
      <anchor>r_gripper_l_finger_tip_link</anchor>
      <axis>0 1 0</axis>
    </joint:slider>
  </gazebo>
  <gazebo reference="r_gripper_motor_slider_link">
    <turnGravityOff>true</turnGravityOff>
    <material value="PR2/Red"/>
  </gazebo>
  <gazebo reference="r_gripper_motor_screw_link">
    <turnGravityOff>true</turnGravityOff>
    <material value="PR2/Red"/>
  </gazebo>
  <gazebo reference="r_gripper_l_parallel_link">
    <turnGravityOff>true</turnGravityOff>
    <material value="PR2/Red"/>
  </gazebo>
  <gazebo reference="r_gripper_r_parallel_link">
    <turnGravityOff>true</turnGravityOff>
    <material value="PR2/Red"/>
  </gazebo>
  <joint name="r_gripper_joint" type="prismatic">
    <parent link="r_gripper_r_finger_tip_link"/>
    <child link="r_gripper_l_finger_tip_frame"/>
    <origin rpy="0 0 0" xyz="0 0 0"/>
    <axis xyz="0 1 0"/>
    <limit effort="1000" lower="0" upper="0.09" velocity="0.2"/>
    <dynamics damping="10.0"/>
    <safety_controller k_position="20" k_velocity="5000" soft_lower_limit="-0.01" soft_upper_limit="0.088"/>
  </joint>
  <link name="r_gripper_l_finger_tip_frame"/>
  <gazebo reference="r_gripper_palm_link">
    <turnGravityOff>true</turnGravityOff>
  </gazebo>
  <gazebo>
    <controller:gazebo_ros_p3d name="p3d_r_gripper_palm_controller" plugin="libgazebo_ros_p3d.so">
      <alwaysOn>true</alwaysOn>
      <updateRate>100.0</updateRate>
      <bodyName/>
      <topicName>r_gripper_palm_pose_ground_truth</topicName>
      <xyzOffsets>0 0 0</xyzOffsets>
      <rpyOffsets>0 0 0</rpyOffsets>
      <gaussianNoise>0.0</gaussianNoise>
      <frameName>map</frameName>
      <interface:position name="p3d_r_gripper_palm_position_iface"/>
    </controller:gazebo_ros_p3d>
    <gripper name="r_grasp_hack">


      <grasp_check attach_steps="20" detach_steps="40" min_contact_count="2"/>


      <gripper_link>r_gripper_r_finger_tip_link</gripper_link>


      <gripper_link>r_gripper_l_finger_tip_link</gripper_link>


      <palm_link>r_gripper_palm_link</palm_link>


    </gripper>
  </gazebo>
  <transmission name="r_gripper_trans" type="pr2_mechanism_model/PR2GripperTransmission">
    <actuator name="r_gripper_motor"/>
    <gap_joint L0="0.0375528" a="0.0683698" b="0.0433849" gear_ratio="40.095" h="0.0" mechanical_reduction="1.0" name="r_gripper_joint" phi0="0.518518122146" r="0.0915" screw_reduction="0.004" t0="-0.0001914" theta0="0.0628824676201"/>
    <use_simulated_gripper_joint/>
    <passive_joint name="r_gripper_l_finger_joint"/>
    <passive_joint name="r_gripper_r_finger_joint"/>
    <passive_joint name="r_gripper_r_finger_tip_joint"/>
    <passive_joint name="r_gripper_l_finger_tip_joint"/>
    <simulated_actuated_joint name="r_gripper_motor_screw_joint" passive_actuated_joint="r_gripper_motor_slider_joint" simulated_reduction="3141.6"/>
  </transmission>
  <joint name="l_shoulder_pan_joint" type="revolute">
    <parent link="torso_lift_link"/>
    <child link="l_shoulder_pan_link"/>
    <origin rpy="0 0 0" xyz="0 0.188 0"/>
    <axis xyz="0 0 1"/>
    <limit effort="30" lower="-0.714601836603" upper="2.2853981634" velocity="2.088"/>
    <dynamics damping="10.0"/>
    <safety_controller k_position="100" k_velocity="10" soft_lower_limit="-0.564601836603" soft_upper_limit="2.1353981634"/>
    <calibration rising="0.767843868361"/>
  </joint>
  <link name="l_shoulder_pan_link">
    <inertial>
      <mass value="25.799322"/>
      <origin rpy="0 0 0" xyz="-0.001201 0.024513 -0.098231"/>
      <inertia ixx="0.86617914248" ixy="-0.06086507933" ixz="-0.12118061183" iyy="0.87421714893" iyz="-0.05886609911" izz="0.27353821674"/>
    </inertial>
    <visual>
      <origin rpy="0 0 0" xyz="0 0 0"/>
      <geometry>
        <mesh filename="package://pr2_description/meshes/shoulder_v0/shoulder_pan.dae"/>
      </geometry>
      <material name="Blue"/>
    </visual>
    <collision>
      <origin rpy="0 0 0" xyz="0 0 0"/>
      <geometry>
        <mesh filename="package://pr2_description/meshes/shoulder_v0/shoulder_pan.stl"/>
      </geometry>
    </collision>
  </link>
  <joint name="l_shoulder_lift_joint" type="revolute">
    <parent link="l_shoulder_pan_link"/>
    <child link="l_shoulder_lift_link"/>
    <origin rpy="0 0 0" xyz="0.1 0 0"/>
    <axis xyz="0 1 0"/>
    <limit effort="30" lower="-0.5236" upper="1.3963" velocity="2.082"/>
    <dynamics damping="10.0"/>
    <safety_controller k_position="100" k_velocity="10" soft_lower_limit="-0.3536" soft_upper_limit="1.2963"/>
    <calibration falling="-0.007292577607"/>
  </joint>
  <link name="l_shoulder_lift_link">
    <inertial>
      <mass value="2.74988"/>
      <origin rpy="0 0 0" xyz="0.02195 -0.02664 -0.03127"/>
      <inertia ixx="0.02105584615" ixy="0.00496704022" ixz="-0.00194808955" iyy="0.02127223737" iyz="0.0011042549" izz="0.01975753814"/>
    </inertial>
    <visual>
      <origin rpy="0 0 0" xyz="0 0 0"/>
      <geometry>
        <mesh filename="package://pr2_description/meshes/shoulder_v0/shoulder_lift.dae"/>
      </geometry>
      <material name="Grey"/>
    </visual>
    <collision>
      <origin rpy="0 0 0" xyz="0 0 0"/>
      <geometry>
        <mesh filename="package://pr2_description/meshes/shoulder_v0/shoulder_lift.stl"/>
      </geometry>
    </collision>
  </link>
  <joint name="l_upper_arm_roll_joint" type="revolute">
    <parent link="l_shoulder_lift_link"/>
    <child link="l_upper_arm_roll_link"/>
    <origin rpy="0 0 0" xyz="0 0 0"/>
    <axis xyz="1 0 0"/>
    <limit effort="30" lower="-0.8" upper="3.9" velocity="3.27"/>
    <dynamics damping="0.1"/>
    <safety_controller k_position="100" k_velocity="2" soft_lower_limit="-0.65" soft_upper_limit="3.75"/>
    <calibration rising="1.578991222383"/>
  </joint>
  <link name="l_upper_arm_roll_link">
    <inertial>
      <mass value="0.1"/>
      <origin rpy="0 0 0" xyz="0 0 0"/>
      <inertia ixx="0.01" ixy="0" ixz="0" iyy="0.01" iyz="0" izz="0.01"/>
    </inertial>
    <visual>
      <origin rpy="0 0 0" xyz="0 0 0"/>
      <geometry>
        <mesh filename="package://pr2_description/meshes/shoulder_v0/upper_arm_roll.stl"/>
      </geometry>
      <material name="RollLinks"/>
    </visual>
    <collision>
      <origin rpy="0 0 0" xyz="0 0 0"/>
      <geometry>
        <mesh filename="package://pr2_description/meshes/shoulder_v0/upper_arm_roll_L.stl"/>
      </geometry>
    </collision>
  </link>
  <gazebo reference="l_upper_arm_roll_link">
    <material value="PR2/RollLinks"/>
    <turnGravityOff>true</turnGravityOff>
  </gazebo>
  <gazebo reference="l_upper_arm_roll_joint">
    <stopKd value="1.0"/>
    <stopKp value="1000000.0"/>
    <fudgeFactor value="0.5"/>
  </gazebo>
  <transmission name="l_upper_arm_roll_trans" type="pr2_mechanism_model/SimpleTransmission">
    <actuator name="l_upper_arm_roll_motor"/>
    <joint name="l_upper_arm_roll_joint"/>
    <mechanicalReduction>32.6525111499</mechanicalReduction>
  </transmission>
  <gazebo reference="l_shoulder_pan_link">
    <turnGravityOff>true</turnGravityOff>
  </gazebo>
  <gazebo reference="l_shoulder_pan_joint">
    <stopKd value="1.0"/>
    <stopKp value="1000000.0"/>
  </gazebo>
  <gazebo reference="l_shoulder_lift_link">
    <turnGravityOff>true</turnGravityOff>
  </gazebo>
  <gazebo reference="l_shoulder_lift_joint">
    <stopKd value="1.0"/>
    <stopKp value="1000000.0"/>
  </gazebo>
  <transmission name="l_shoulder_pan_trans" type="pr2_mechanism_model/SimpleTransmission">
    <actuator name="l_shoulder_pan_motor"/>
    <joint name="l_shoulder_pan_joint"/>
    <mechanicalReduction>63.1552452977</mechanicalReduction>
    <compensator k_belt="4000.0" kd_motor="15.0" lambda_combined="0.0" lambda_joint="40.0" lambda_motor="40.0" mass_motor="0.05"/>
  </transmission>
  <transmission name="l_shoulder_lift_trans" type="pr2_mechanism_model/SimpleTransmission">
    <actuator name="l_shoulder_lift_motor"/>
    <joint name="l_shoulder_lift_joint"/>
    <mechanicalReduction>61.8948225713</mechanicalReduction>
    <compensator k_belt="4000.0" kd_motor="10.0" lambda_combined="0.0" lambda_joint="60.0" lambda_motor="60.0" mass_motor="0.05"/>
  </transmission>
  <joint name="l_upper_arm_joint" type="fixed">
    <parent link="l_upper_arm_roll_link"/>
    <child link="l_upper_arm_link"/>
    <origin rpy="0 0 0" xyz="0 0 0"/>
  </joint>
  <link name="l_upper_arm_link">
    <inertial>
      <mass value="6.01769"/>
      <origin xyz="0.21405 0.01658 -0.00057"/>
      <inertia ixx="0.01530603856" ixy="-0.00339324862" ixz="0.00060765455" iyy="0.07473694455" iyz="-0.00019953729" izz="0.07601594191"/>
    </inertial>
    <visual>
      <origin rpy="0 0 0" xyz="0 0 0"/>
      <geometry>
        <mesh filename="package://pr2_description/meshes/upper_arm_v0/upper_arm.dae"/>
      </geometry>
      <material name="Green"/>
    </visual>
    <collision>
      <origin rpy="0 0 0" xyz="0 0 0"/>
      <geometry>
        <mesh filename="package://pr2_description/meshes/upper_arm_v0/upper_arm.stl"/>
      </geometry>
    </collision>
  </link>
  <gazebo reference="l_upper_arm_link">
    <turnGravityOff>true</turnGravityOff>
  </gazebo>
  <joint name="l_forearm_roll_joint" type="continuous">
    <parent link="l_elbow_flex_link"/>
    <child link="l_forearm_roll_link"/>
    <origin rpy="0 0 0" xyz="0 0 0"/>
    <axis xyz="1 0 0"/>
    <limit effort="30" velocity="3.6"/>
    <dynamics damping="0.1"/>
    <safety_controller k_velocity="1"/>
    <calibration rising="0.002506765392"/>
  </joint>
  <link name="l_forearm_roll_link">
    <inertial>
      <mass value="0.1"/>
      <origin xyz="0 0 0"/>
      <inertia ixx="0.01" ixy="0" ixz="0" iyy="0.01" iyz="0" izz="0.01"/>
    </inertial>
    <visual>
      <origin rpy="0 0 0" xyz="0 0 0"/>
      <geometry>
        <mesh filename="package://pr2_description/meshes/upper_arm_v0/forearm_roll.stl"/>
      </geometry>
      <material name="RollLinks"/>
    </visual>
    <collision>
      <origin rpy="0 0 0" xyz="0 0 0"/>
      <geometry>
        <mesh filename="package://pr2_description/meshes/upper_arm_v0/forearm_roll_L.stl"/>
      </geometry>
    </collision>
  </link>
  <gazebo reference="l_forearm_roll_link">
    <material value="PR2/RollLinks"/>
    <turnGravityOff>true</turnGravityOff>
  </gazebo>
  <gazebo reference="l_forearm_roll_joint">
    <fudgeFactor value="0.5"/>
  </gazebo>
  <transmission name="l_forearm_roll_trans" type="pr2_mechanism_model/SimpleTransmission">
    <actuator name="l_forearm_roll_motor"/>
    <joint name="l_forearm_roll_joint"/>
    <mechanicalReduction>-90.5142857143</mechanicalReduction>
  </transmission>
  <joint name="l_elbow_flex_joint" type="revolute">
    <parent link="l_upper_arm_link"/>
    <child link="l_elbow_flex_link"/>
    <origin rpy="0 0 0" xyz="0.4 0 0"/>
    <axis xyz="0 1 0"/>
    <limit effort="30" lower="-2.3213" upper="0" velocity="3.3"/>
    <dynamics damping="1.0"/>
    <safety_controller k_position="100" k_velocity="3" soft_lower_limit="-2.1213" soft_upper_limit="-0.15"/>
    <calibration falling="-1.1606"/>
  </joint>
  <link name="l_elbow_flex_link">
    <inertial>
      <mass value="1.90327"/>
      <origin xyz="0.01014 0.00032 -0.01211"/>
      <inertia ixx="0.00346541989" ixy="0.00004066825" ixz="0.00043171614" iyy="0.00441606455" iyz="-0.00003968914" izz="0.00359156824"/>
    </inertial>
    <visual>
      <origin rpy="0 0 0" xyz="0 0 0"/>
      <geometry>
        <mesh filename="package://pr2_description/meshes/upper_arm_v0/elbow_flex.dae"/>
      </geometry>
      <material name="Grey"/>
    </visual>
    <collision>
      <origin rpy="0 0 0" xyz="0 0 0"/>
      <geometry>
        <mesh filename="package://pr2_description/meshes/upper_arm_v0/elbow_flex.stl"/>
      </geometry>
    </collision>
  </link>
  <gazebo reference="l_elbow_flex_joint">
    <initial_joint_position>-1.0</initial_joint_position>
  </gazebo>
  <gazebo reference="l_elbow_flex_link">
    <turnGravityOff>true</turnGravityOff>
  </gazebo>
  <gazebo reference="l_elbow_flex_joint">
    <stopKd value="1.0"/>
    <stopKp value="1000000.0"/>
  </gazebo>
  <transmission name="l_elbow_flex_trans" type="pr2_mechanism_model/SimpleTransmission">
    <actuator name="l_elbow_flex_motor"/>
    <joint name="l_elbow_flex_joint"/>
    <mechanicalReduction>-36.167452007</mechanicalReduction>
  </transmission>
  <joint name="l_forearm_joint" type="fixed">
    <parent link="l_forearm_roll_link"/>
    <child link="l_forearm_link"/>
    <origin rpy="0 0 0" xyz="0 0 0"/>
  </joint>
  <link name="l_forearm_link">
    <inertial>
      <mass value="2.57968"/>
      <origin xyz="0.18791 -0.00017 -0.00912"/>
      <inertia ixx="0.00364857222" ixy="0.00005215877" ixz="0.00071534842" iyy="0.01507736897" iyz="-0.0000131077" izz="0.01659310749"/>
    </inertial>
    <visual>
      <origin rpy="0 0 0" xyz="0 0 0"/>
      <geometry>
        <mesh filename="package://pr2_description/meshes/forearm_v0/forearm.dae"/>
      </geometry>
      <material name="Grey"/>
    </visual>
    <collision>
      <origin rpy="0 0 0" xyz="0 0 0"/>
      <geometry>
        <mesh filename="package://pr2_description/meshes/forearm_v0/forearm.stl"/>
      </geometry>
    </collision>
  </link>
  <joint name="l_wrist_flex_joint" type="revolute">
    <parent link="l_forearm_link"/>
    <child link="l_wrist_flex_link"/>
    <origin rpy="0 0 0" xyz="0.321 0 0"/>
    <axis xyz="0 1 0"/>
    <limit effort="10" lower="-2.18" upper="0" velocity="3.078"/>
    <dynamics damping="0.1"/>
    <safety_controller k_position="20" k_velocity="4" soft_lower_limit="-2" soft_upper_limit="-0.1"/>
    <calibration falling="-0.498970877657"/>
  </joint>
  <link name="l_wrist_flex_link">
    <inertial>
      <mass value="0.61402"/>
      <origin xyz="-0.00157 0 -0.00075"/>
      <inertia ixx="0.00065165722" ixy="0.00000028864" ixz="0.00000303477" iyy="0.00019824443" iyz="-0.00000022645" izz="0.00064450498"/>
    </inertial>
    <visual>
      <origin rpy="0 0 0" xyz="0 0 0"/>
      <geometry>
        <mesh filename="package://pr2_description/meshes/forearm_v0/wrist_flex.dae"/>
      </geometry>
      <material name="Grey"/>
    </visual>
    <collision>
      <origin rpy="0 0 0" xyz="0 0 0"/>
      <geometry>
        <mesh filename="package://pr2_description/meshes/forearm_v0/wrist_flex.stl"/>
      </geometry>
    </collision>
  </link>
  <joint name="l_wrist_roll_joint" type="continuous">
    <parent link="l_wrist_flex_link"/>
    <child link="l_wrist_roll_link"/>
    <origin rpy="0 0 0" xyz="0 0 0"/>
    <axis xyz="1 0 0"/>
    <limit effort="10" velocity="3.6"/>
    <dynamics damping="0.1"/>
    <safety_controller k_velocity="2"/>
    <calibration rising="-1.540246949456"/>
  </joint>
  <link name="l_wrist_roll_link">
    <inertial>
      <mass value="0.1"/>
      <origin xyz="0 0 0"/>
      <inertia ixx="0.01" ixy="0" ixz="0" iyy="0.01" iyz="0" izz="0.01"/>
    </inertial>
    <visual>
      <origin rpy="0 0 0" xyz="0 0 0"/>
      <geometry>
        <mesh filename="package://pr2_description/meshes/forearm_v0/wrist_roll.stl"/>
      </geometry>
      <material name="RollLinks"/>
    </visual>
    <collision>
      <origin rpy="0 0 0" xyz="0 0 0"/>
      <geometry>
        <mesh filename="package://pr2_description/meshes/forearm_v0/wrist_roll_L.stl"/>
      </geometry>
    </collision>
  </link>
  <gazebo reference="l_forearm_link">
    <turnGravityOff>true</turnGravityOff>
  </gazebo>
  <gazebo reference="l_wrist_flex_link">
    <turnGravityOff>true</turnGravityOff>
  </gazebo>
  <gazebo reference="l_wrist_flex_joint">
    <stopKd value="1.0"/>
    <stopKp value="1000000.0"/>
  </gazebo>
  <gazebo reference="l_wrist_roll_link">
    <turnGravityOff>true</turnGravityOff>
    <material value="PR2/RollLinks"/>
  </gazebo>
  <gazebo reference="l_wrist_roll_joint">
    <fudgeFactor value="0.5"/>
  </gazebo>
  <transmission name="l_wrist_trans" type="pr2_mechanism_model/WristTransmission">
    <rightActuator mechanicalReduction="60.1714285714" name="l_wrist_r_motor"/>
    <leftActuator mechanicalReduction="60.1714285714" name="l_wrist_l_motor"/>
    <flexJoint mechanicalReduction="-1.0" name="l_wrist_flex_joint"/>
    <rollJoint mechanicalReduction="1.0" name="l_wrist_roll_joint"/>
  </transmission>
  <joint name="l_gripper_palm_joint" type="fixed">
    <parent link="l_wrist_roll_link"/>
    <child link="l_gripper_palm_link"/>
    <origin rpy="0 0 0" xyz="0 0 0"/>
  </joint>
  <link name="l_gripper_palm_link">
    <inertial>
      <mass value="0.58007"/>
      <origin rpy="0 0 0" xyz="0.06623 0.00053 -0.00119"/>
      <inertia ixx="0.00035223921" ixy="-0.00001580476" ixz="-0.0000009175" iyy="0.00067741312" iyz="-0.00000059554" izz="0.00086563316"/>
    </inertial>
    <visual>
      <origin rpy="0 0 0" xyz="0 0 0"/>
      <geometry>
        <mesh filename="package://pr2_description/meshes/gripper_v0/gripper_palm.dae"/>
      </geometry>
      <material name="Red"/>
    </visual>
    <collision>
      <origin rpy="0 0 0" xyz="0 0 0"/>
      <geometry>
        <mesh filename="package://pr2_description/meshes/gripper_v0/gripper_palm.stl"/>
      </geometry>
    </collision>
  </link>
  <joint name="l_gripper_led_joint" type="fixed">
    <parent link="l_gripper_palm_link"/>
    <child link="l_gripper_led_frame"/>
    <origin rpy="0 0 0" xyz="0.0513 0 0.0244"/>
  </joint>
  <link name="l_gripper_led_frame"/>
  <joint name="l_gripper_motor_accelerometer_joint" type="fixed">
    <parent link="l_gripper_palm_link"/>
    <child link="l_gripper_motor_accelerometer_link"/>
    <origin rpy="0 0 0" xyz="0 0 0"/>
  </joint>
  <link name="l_gripper_motor_accelerometer_link">
    <inertial>
      <mass value="0.001"/>
      <origin rpy="0 0 0" xyz="0 0 0"/>
      <inertia ixx="0.001" ixy="0" ixz="0" iyy="0.001" iyz="0" izz="0.001"/>
    </inertial>
    <visual>
      <origin rpy="0 0 0" xyz="0 0 0"/>
      <geometry>
        <box size="0.001 0.001 0.001"/>
      </geometry>
    </visual>
    <collision>
      <origin rpy="0 0 0" xyz="0 0 0"/>
      <geometry>
        <box size="0.001 0.001 0.001"/>
      </geometry>
    </collision>
  </link>
  <joint name="l_gripper_tool_joint" type="fixed">
    <parent link="l_gripper_palm_link"/>
    <child link="l_gripper_tool_frame"/>
    <origin rpy="0 0 0" xyz="0.18 0 0"/>
  </joint>
  <link name="l_gripper_tool_frame"/>
  <link name="l_gripper_motor_slider_link">
    <inertial>
      <mass value="0.01"/>
      <origin rpy="0 0 0" xyz="0 0 0"/>
      <inertia ixx="0.001" ixy="0" ixz="0" iyy="0.001" iyz="0" izz="0.001"/>
    </inertial>
  </link>
  <joint name="l_gripper_motor_slider_joint" type="prismatic">
    <parent link="l_gripper_palm_link"/>
    <child link="l_gripper_motor_slider_link"/>
    <origin rpy="0 0 0" xyz="0.16828 0 0"/>
    <axis xyz="1 0 0"/>
    <limit effort="1000" lower="-0.1" upper="0.1" velocity="0.2"/>
  </joint>
  <link name="l_gripper_motor_screw_link">
    <inertial>
      <mass value="0.01"/>
      <origin rpy="0 0 0" xyz="0 0 0"/>
      <inertia ixx="0.0001" ixy="0" ixz="0" iyy="0.0001" iyz="0" izz="0.0001"/>
    </inertial>
  </link>
  <joint name="l_gripper_motor_screw_joint" type="continuous">
    <parent link="l_gripper_motor_slider_link"/>
    <child link="l_gripper_motor_screw_link"/>
    <origin rpy="0 0 0" xyz="0 0 0"/>
    <axis xyz="0 1 0"/>
    <dynamics damping="0.0001"/>
  </joint>
  <joint name="l_gripper_l_finger_joint" type="revolute">
    <parent link="l_gripper_palm_link"/>
    <child link="l_gripper_l_finger_link"/>
    <origin rpy="0 0 0" xyz="0.07691 0.01 0"/>
    <axis xyz="0 0 1"/>
    <limit effort="1000" lower="0" upper="0.548" velocity="0.5"/>
    <dynamics damping="0.02"/>
  </joint>
  <link name="l_gripper_l_finger_link">
    <inertial>
      <mass value="0.17126"/>
      <origin rpy="0 0 0" xyz="0.03598 0.0173 -0.00164"/>
      <inertia ixx="0.00007756198" ixy="0.00000149095" ixz="-0.00000983385" iyy="0.00019708305" iyz="-0.00000306125" izz="0.00018105446"/>
    </inertial>
    <visual>
      <origin rpy="0 0 0" xyz="0 0 0"/>
      <geometry>
        <mesh filename="package://pr2_description/meshes/gripper_v0/l_finger.dae"/>
      </geometry>
      <material name="Grey"/>
    </visual>
    <collision>
      <origin rpy="0 0 0" xyz="0 0 0"/>
      <geometry>
        <mesh filename="package://pr2_description/meshes/gripper_v0/l_finger.stl"/>
      </geometry>
    </collision>
  </link>
  <joint name="l_gripper_r_finger_joint" type="revolute">
    <parent link="l_gripper_palm_link"/>
    <child link="l_gripper_r_finger_link"/>
    <origin rpy="3.14159265359 0 0" xyz="0.07691 -0.01 0"/>
    <!--origin rpy="0 0 0" xyz="0.07691 -0.01 0"/--><!--Fixed Caelan-->
    <axis xyz="0 0 -1"/>
    <limit effort="1000" lower="0" upper="0.548" velocity="0.5"/>
    <dynamics damping="0.02"/>
  </joint>
  <link name="l_gripper_r_finger_link">
    <inertial>
      <mass value="0.17389"/>
      <origin rpy="0 0 0" xyz="0.03576 -0.01736 -0.00095"/>
      <inertia ixx="0.0000773841" ixy="-0.00000209309" ixz="-0.00000836228" iyy="0.00019847383" iyz="0.0000024611" izz="0.00018106988"/>
    </inertial>
    <visual>
      <origin rpy="0 0 0" xyz="0 0 0"/>
      <!--origin rpy="3.14159265359 0 0" xyz="0 0 0"/--><!--Fixed Caelan-->
      <geometry>
        <mesh filename="package://pr2_description/meshes/gripper_v0/l_finger.dae"/>
      </geometry>
      <material name="Grey"/>
    </visual>
    <collision>
      <origin rpy="0 0 0" xyz="0 0 0"/>
      <!--origin rpy="3.14159265359 0 0" xyz="0 0 0"/--><!--Fixed Caelan-->
      <geometry>
        <mesh filename="package://pr2_description/meshes/gripper_v0/l_finger.stl"/>
      </geometry>
    </collision>
  </link>
  <joint name="l_gripper_l_finger_tip_joint" type="revolute">
    <parent link="l_gripper_l_finger_link"/>
    <child link="l_gripper_l_finger_tip_link"/>
    <origin rpy="0 0 0" xyz="0.09137 0.00495 0"/>
    <axis xyz="0 0 -1"/>
    <limit effort="1000" lower="0" upper="0.548" velocity="0.5"/>
    <dynamics damping="0.001"/>
  </joint>
  <link name="l_gripper_l_finger_tip_link">
    <inertial>
      <mass value="0.04419"/>
      <origin rpy="0 0 0" xyz="0.00423 0.00284 0"/>
      <inertia ixx="0.00000837047" ixy="0.00000583632" ixz="0" iyy="0.00000987067" iyz="0" izz="0.00001541768"/>
    </inertial>
    <visual>
      <origin rpy="0 0 0" xyz="0 0 0"/>
      <geometry>
        <mesh filename="package://pr2_description/meshes/gripper_v0/l_finger_tip.dae"/>
      </geometry>
      <material name="Green"/>
    </visual>
    <collision>
      <origin rpy="0 0 0" xyz="0 0 0"/>
      <geometry>
        <mesh filename="package://pr2_description/meshes/gripper_v0/l_finger_tip.stl"/>
      </geometry>
    </collision>
  </link>
  <joint name="l_gripper_r_finger_tip_joint" type="revolute">
    <parent link="l_gripper_r_finger_link"/>
    <child link="l_gripper_r_finger_tip_link"/>
    <origin rpy="0 0 0" xyz="0.09137 -0.00495 0"/>
    <axis xyz="0 0 1"/>
    <limit effort="1000" lower="0" upper="0.548" velocity="0.5"/>
    <dynamics damping="0.001"/>
  </joint>
  <link name="l_gripper_r_finger_tip_link">
    <inertial>
      <mass value="0.04419"/>
      <origin rpy="0 0 0" xyz="0.00423 -0.00284 0"/>
      <inertia ixx="0.00000837047" ixy="-0.00000583632" ixz="0" iyy="0.00000987067" iyz="0" izz="0.00001541768"/>
    </inertial>
    <visual>
      <origin rpy="3.14159265359 0 0" xyz="0 0 0"/>
      <geometry>
        <mesh filename="package://pr2_description/meshes/gripper_v0/l_finger_tip.dae"/>
      </geometry>
      <material name="Green"/>
    </visual>
    <collision>
      <origin rpy="3.14159265359 0 0" xyz="0 0 0"/>
      <geometry>
        <mesh filename="package://pr2_description/meshes/gripper_v0/l_finger_tip.stl"/>
      </geometry>
    </collision>
  </link>
  <gazebo reference="l_gripper_l_finger_link">
    <turnGravityOff>true</turnGravityOff>
    <mu1 value="500.0"/>
    <mu2 value="500.0"/>
    <kp value="1000000.0"/>
    <kd value="1.0"/>
  </gazebo>
  <gazebo reference="l_gripper_l_finger_joint">
    <stopKd value="1.0"/>
    <stopKp value="10000000.0"/>
    <fudgeFactor value="1.0"/>
    <provideFeedback value="true"/>
  </gazebo>
  <gazebo reference="l_gripper_r_finger_link">
    <turnGravityOff>true</turnGravityOff>
    <mu1 value="500.0"/>
    <mu2 value="500.0"/>
    <kp value="1000000.0"/>
    <kd value="1.0"/>
  </gazebo>
  <gazebo reference="l_gripper_r_finger_joint">
    <stopKd value="1.0"/>
    <stopKp value="10000000.0"/>
    <fudgeFactor value="1.0"/>
    <provideFeedback value="true"/>
  </gazebo>
  <gazebo reference="l_gripper_l_finger_tip_link">
    <turnGravityOff>true</turnGravityOff>
    <selfCollide>false</selfCollide>
    <sensor:contact name="l_gripper_l_finger_tip_contact_sensor">
      <geom>l_gripper_l_finger_tip_link_geom</geom>
      <updateRate>100.0</updateRate>
      <controller:gazebo_ros_bumper name="l_gripper_l_finger_tip_gazebo_ros_bumper_controller" plugin="libgazebo_ros_bumper.so">
        <alwaysOn>true</alwaysOn>
        <frameName>l_gripper_l_finger_tip_link</frameName>
        <updateRate>100.0</updateRate>
        <bumperTopicName>l_gripper_l_finger_tip_bumper</bumperTopicName>
        <interface:bumper name="l_gripper_l_finger_tip_gazebo_ros_bumper_iface"/>
      </controller:gazebo_ros_bumper>
    </sensor:contact>
    <mu1 value="500.0"/>
    <mu2 value="500.0"/>
    <kp value="10000000.0"/>
    <kd value="1.0"/>
  </gazebo>
  <gazebo reference="l_gripper_l_finger_tip_joint">
    <stopKd value="1.0"/>
    <stopKp value="10000000.0"/>
    <fudgeFactor value="1.0"/>
    <provideFeedback value="true"/>
  </gazebo>
  <gazebo reference="l_gripper_r_finger_tip_link">
    <turnGravityOff>true</turnGravityOff>
    <selfCollide>false</selfCollide>
    <sensor:contact name="l_gripper_r_finger_tip_contact_sensor">
      <geom>l_gripper_r_finger_tip_link_geom</geom>
      <updateRate>100.0</updateRate>
      <controller:gazebo_ros_bumper name="l_gripper_r_finger_tip_gazebo_ros_bumper_controller" plugin="libgazebo_ros_bumper.so">
        <alwaysOn>true</alwaysOn>
        <frameName>l_gripper_r_finger_tip_link</frameName>
        <updateRate>100.0</updateRate>
        <bumperTopicName>l_gripper_r_finger_tip_bumper</bumperTopicName>
        <interface:bumper name="l_gripper_r_finger_tip_gazebo_ros_bumper_iface"/>
      </controller:gazebo_ros_bumper>
    </sensor:contact>
    <mu1 value="500.0"/>
    <mu2 value="500.0"/>
    <kp value="10000000.0"/>
    <kd value="1.0"/>
  </gazebo>
  <gazebo>
    <controller:gazebo_ros_p3d name="p3d_l_gripper_l_finger_controller" plugin="libgazebo_ros_p3d.so">
      <alwaysOn>true</alwaysOn>
      <updateRate>100.0</updateRate>
      <bodyName/>
      <topicName>l_gripper_l_finger_pose_ground_truth</topicName>
      <gaussianNoise>0.0</gaussianNoise>
      <frameName>base_link</frameName>
      <interface:position name="p3d_l_gripper_l_finger_position_iface"/>
    </controller:gazebo_ros_p3d>
    <controller:gazebo_ros_f3d name="f3d_l_gripper_l_finger_controller" plugin="libgazebo_ros_f3d.so">
      <alwaysOn>true</alwaysOn>
      <updateRate>100.0</updateRate>
      <bodyName/>
      <topicName>l_gripper_l_finger_force_ground_truth</topicName>
      <frameName>l_gripper_l_finger_link</frameName>
      <interface:position name="f3d_l_gripper_l_finger_force_iface"/>
    </controller:gazebo_ros_f3d>
  </gazebo>
  <gazebo reference="l_gripper_r_finger_tip_joint">
    <stopKd value="1.0"/>
    <stopKp value="10000000.0"/>
    <fudgeFactor value="1.0"/>
    <provideFeedback value="true"/>
  </gazebo>
  <gazebo>
    <body:box name="l_gripper_l_parallel_link">
      <massMatrix>true</massMatrix>
      <mass>0.17126</mass>
      <ixx>7.7562e-05</ixx>
      <ixy>1.49095e-06</ixy>
      <ixz>-9.83385e-06</ixz>
      <iyy>0.000197083</iyy>
      <iyz>-3.06125e-06</iyz>
      <izz>0.000181054</izz>
      <cx>0.03598</cx>
      <cy>0.0173</cy>
      <cz>-0.00164</cz>
      <xyz>0.82991 0.219 0.790675</xyz>
      <rpy>0 -0 0</rpy>
      <turnGravityOff>true</turnGravityOff>
      <selfCollide>false</selfCollide>
    </body:box>
    <body:box name="l_gripper_r_parallel_link">
      <massMatrix>true</massMatrix>
      <mass>0.17389</mass>
      <ixx>7.73841e-05</ixx>
      <ixy>-2.09309e-06</ixy>
      <ixz>-8.36228e-06</ixz>
      <iyy>0.000198474</iyy>
      <iyz>2.4611e-06</iyz>
      <izz>0.00018107</izz>
      <cx>0.03576</cx>
      <cy>-0.01736</cy>
      <cz>-0.00095</cz>
      <xyz>0.82991 0.157 0.790675</xyz>
      <rpy>0 -0 0</rpy>
      <turnGravityOff>true</turnGravityOff>
      <selfCollide>false</selfCollide>
    </body:box>
  </gazebo>
  <gazebo>
    <joint:screw name="l_gripper_r_screw_screw_joint">
      <body1/>
      <body2/>
      <anchor>l_gripper_motor_screw_link</anchor>
      <anchorOffset>0 0 0</anchorOffset>
      <axis>0 1 0</axis>
      <threadPitch>-3141.6</threadPitch>
    </joint:screw>
    <joint:screw name="l_gripper_l_screw_screw_joint">
      <body1/>
      <body2/>
      <anchor>l_gripper_motor_screw_link</anchor>
      <anchorOffset>0 0 0</anchorOffset>
      <axis>0 1 0</axis>
      <threadPitch>3141.6</threadPitch>
    </joint:screw>
  </gazebo>
  <gazebo>
    <joint:hinge name="l_gripper_r_parallel_root_joint">
      <body1/>
      <body2/>
      <anchor>l_gripper_palm_link</anchor>
      <axis>0 0 -1</axis>
      <damping>0.2</damping>
      <anchorOffset>0.05891 -0.031 0</anchorOffset>
    </joint:hinge>
    <joint:hinge name="l_gripper_l_parallel_root_joint">
      <body1/>
      <body2/>
      <anchor>l_gripper_palm_link</anchor>
      <axis>0 0 1</axis>
      <damping>0.2</damping>
      <anchorOffset>0.05891 0.031 0</anchorOffset>
    </joint:hinge>
    <joint:hinge name="l_gripper_r_parallel_tip_joint">
      <body1/>
      <body2/>
      <anchor>l_gripper_r_finger_tip_link</anchor>
      <axis>0 0 1</axis>
      <anchorOffset>-0.018 -0.021 0</anchorOffset>
    </joint:hinge>
    <joint:hinge name="l_gripper_l_parallel_tip_joint">
      <body1/>
      <body2/>
      <anchor>l_gripper_l_finger_tip_link</anchor>
      <axis>0 0 1</axis>
      <anchorOffset>-0.018 0.021 0</anchorOffset>
    </joint:hinge>
    <joint:slider name="l_gripper_joint">
      <body1/>
      <body2/>
      <anchor>l_gripper_l_finger_tip_link</anchor>
      <axis>0 1 0</axis>
    </joint:slider>
  </gazebo>
  <gazebo reference="l_gripper_motor_slider_link">
    <turnGravityOff>true</turnGravityOff>
    <material value="PR2/Red"/>
  </gazebo>
  <gazebo reference="l_gripper_motor_screw_link">
    <turnGravityOff>true</turnGravityOff>
    <material value="PR2/Red"/>
  </gazebo>
  <gazebo reference="l_gripper_l_parallel_link">
    <turnGravityOff>true</turnGravityOff>
    <material value="PR2/Red"/>
  </gazebo>
  <gazebo reference="l_gripper_r_parallel_link">
    <turnGravityOff>true</turnGravityOff>
    <material value="PR2/Red"/>
  </gazebo>
  <joint name="l_gripper_joint" type="prismatic">
    <parent link="l_gripper_r_finger_tip_link"/>
    <child link="l_gripper_l_finger_tip_frame"/>
    <origin rpy="0 0 0" xyz="0 0 0"/>
    <axis xyz="0 1 0"/>
    <limit effort="1000" lower="0" upper="0.09" velocity="0.2"/>
    <dynamics damping="10.0"/>
    <safety_controller k_position="20" k_velocity="5000" soft_lower_limit="-0.01" soft_upper_limit="0.088"/>
  </joint>
  <link name="l_gripper_l_finger_tip_frame"/>
  <gazebo reference="l_gripper_palm_link">
    <turnGravityOff>true</turnGravityOff>
  </gazebo>
  <gazebo>
    <controller:gazebo_ros_p3d name="p3d_l_gripper_palm_controller" plugin="libgazebo_ros_p3d.so">
      <alwaysOn>true</alwaysOn>
      <updateRate>100.0</updateRate>
      <bodyName/>
      <topicName>l_gripper_palm_pose_ground_truth</topicName>
      <xyzOffsets>0 0 0</xyzOffsets>
      <rpyOffsets>0 0 0</rpyOffsets>
      <gaussianNoise>0.0</gaussianNoise>
      <frameName>map</frameName>
      <interface:position name="p3d_l_gripper_palm_position_iface"/>
    </controller:gazebo_ros_p3d>
    <gripper name="l_grasp_hack">


      <grasp_check attach_steps="20" detach_steps="40" min_contact_count="2"/>


      <gripper_link>l_gripper_r_finger_tip_link</gripper_link>


      <gripper_link>l_gripper_l_finger_tip_link</gripper_link>


      <palm_link>l_gripper_palm_link</palm_link>


    </gripper>
  </gazebo>
  <transmission name="l_gripper_trans" type="pr2_mechanism_model/PR2GripperTransmission">
    <actuator name="l_gripper_motor"/>
    <gap_joint L0="0.0375528" a="0.0683698" b="0.0433849" gear_ratio="40.095" h="0.0" mechanical_reduction="1.0" name="l_gripper_joint" phi0="0.518518122146" r="0.0915" screw_reduction="0.004" t0="-0.0001914" theta0="0.0628824676201"/>
    <use_simulated_gripper_joint/>
    <passive_joint name="l_gripper_l_finger_joint"/>
    <passive_joint name="l_gripper_r_finger_joint"/>
    <passive_joint name="l_gripper_r_finger_tip_joint"/>
    <passive_joint name="l_gripper_l_finger_tip_joint"/>
    <simulated_actuated_joint name="l_gripper_motor_screw_joint" passive_actuated_joint="l_gripper_motor_slider_joint" simulated_reduction="3141.6"/>
  </transmission>
  <joint name="l_forearm_cam_frame_joint" type="fixed">
    <parent link="l_forearm_roll_link"/>
    <child link="l_forearm_cam_frame"/>
    <origin rpy="-1.519018246588 -0.505503653211 -0.039797032229" xyz="0.139614014734 0.006626381963 0.05025376863"/>
  </joint>
  <link name="l_forearm_cam_frame">
    <inertial>
      <mass value="0.01"/>
      <origin xyz="0 0 0"/>
      <inertia ixx="0.001" ixy="0" ixz="0" iyy="0.001" iyz="0" izz="0.001"/>
    </inertial>
  </link>
  <joint name="l_forearm_cam_optical_frame_joint" type="fixed">
    <parent link="l_forearm_cam_frame"/>
    <child link="l_forearm_cam_optical_frame"/>
    <origin rpy="-1.57079632679 0 -1.57079632679" xyz="0 0 0"/>
  </joint>
  <link name="l_forearm_cam_optical_frame"/>
  <gazebo reference="l_forearm_cam_frame">
    <sensor:camera name="l_forearm_cam_sensor">
      <imageSize>640 480</imageSize>
      <imageFormat>R8G8B8</imageFormat>
      <hfov>90</hfov>
      <nearClip>0.1</nearClip>
      <farClip>100</farClip>
      <updateRate>25.0</updateRate>
      <controller:gazebo_ros_depth_camera name="l_forearm_cam_controller" plugin="libgazebo_ros_depth_camera.so">
        <alwaysOn>true</alwaysOn>
        <updateRate>25.0</updateRate>
        <cameraName>l_forearm_cam</cameraName>
        <imageTopicName>image_raw</imageTopicName>
        <cameraInfoTopicName>camera_info</cameraInfoTopicName>
        <frameName>l_forearm_cam_optical_frame</frameName>
        <hackBaseline>0</hackBaseline>
        <CxPrime>320.5</CxPrime>
        <Cx>320.5</Cx>
        <Cy>240.5</Cy>
        <focalLength>320</focalLength>
        <distortionK1>0.0</distortionK1>
        <distortionK2>0.0</distortionK2>
        <distortionK3>0.0</distortionK3>
        <distortionT1>0.0</distortionT1>
        <distortionT2>0.0</distortionT2>
        <interface:camera name="l_forearm_cam_iface"/>
      </controller:gazebo_ros_depth_camera>
    </sensor:camera>
    <turnGravityOff>true</turnGravityOff>
    <material>PR2/Blue</material>
  </gazebo>
  <joint name="r_forearm_cam_frame_joint" type="fixed">
    <parent link="r_forearm_roll_link"/>
    <child link="r_forearm_cam_frame"/>
    <origin rpy="1.537753491172 -0.581937292213 0.019945615233" xyz="0.143291260145 -0.013560007182 0.049432121907"/>
  </joint>
  <link name="r_forearm_cam_frame">
    <inertial>
      <mass value="0.01"/>
      <origin xyz="0 0 0"/>
      <inertia ixx="0.001" ixy="0" ixz="0" iyy="0.001" iyz="0" izz="0.001"/>
    </inertial>
  </link>
  <joint name="r_forearm_cam_optical_frame_joint" type="fixed">
    <parent link="r_forearm_cam_frame"/>
    <child link="r_forearm_cam_optical_frame"/>
    <origin rpy="-1.57079632679 0 -1.57079632679" xyz="0 0 0"/>
  </joint>
  <link name="r_forearm_cam_optical_frame"/>
  <gazebo reference="r_forearm_cam_frame">
    <sensor:camera name="r_forearm_cam_sensor">
      <imageSize>640 480</imageSize>
      <imageFormat>R8G8B8</imageFormat>
      <hfov>90</hfov>
      <nearClip>0.1</nearClip>
      <farClip>100</farClip>
      <updateRate>25.0</updateRate>
      <controller:gazebo_ros_depth_camera name="r_forearm_cam_controller" plugin="libgazebo_ros_depth_camera.so">
        <alwaysOn>true</alwaysOn>
        <updateRate>25.0</updateRate>
        <cameraName>r_forearm_cam</cameraName>
        <imageTopicName>image_raw</imageTopicName>
        <cameraInfoTopicName>camera_info</cameraInfoTopicName>
        <frameName>r_forearm_cam_optical_frame</frameName>
        <hackBaseline>0</hackBaseline>
        <CxPrime>320.5</CxPrime>
        <Cx>320.5</Cx>
        <Cy>240.5</Cy>
        <focalLength>320</focalLength>
        <distortionK1>0.0</distortionK1>
        <distortionK2>0.0</distortionK2>
        <distortionK3>0.0</distortionK3>
        <distortionT1>0.0</distortionT1>
        <distortionT2>0.0</distortionT2>
        <interface:camera name="r_forearm_cam_iface"/>
      </controller:gazebo_ros_depth_camera>
    </sensor:camera>
    <turnGravityOff>true</turnGravityOff>
    <material>PR2/Blue</material>
  </gazebo>
</robot>
